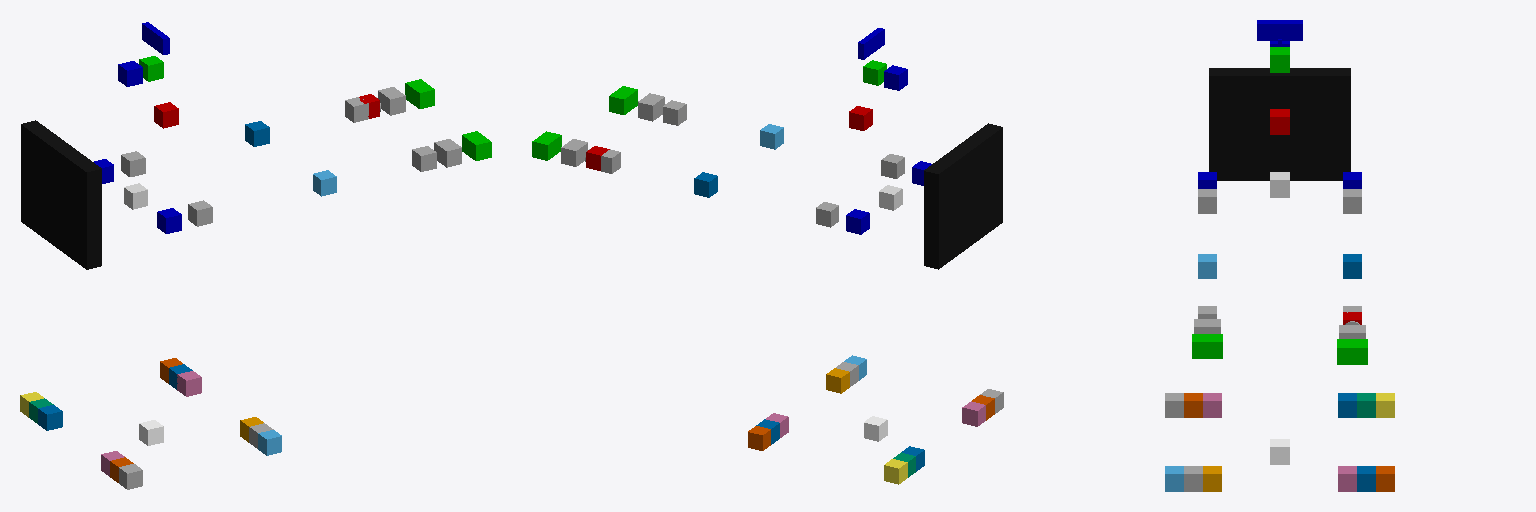
--- Render facts (derived) ---
The picture shows the robot from 3 angles, left to right: view 1: azimuth 30°, elevation 25°; view 2: azimuth 150°, elevation 25°; view 3: azimuth 270°, elevation 25°; orthographic projection.
Model pr2 with 97 links and 96 joints (21 revolute, 19 continuous, 3 prismatic, 53 fixed), rooted at base_footprint, posed every joint at zero.
Visible links, largest first — view 1: base_bellow_link, double_stereo_link, head_pan_link, base_link, r_wrist_flex_link, l_forearm_roll_link, laser_tilt_mount_link, r_shoulder_pan_link, l_shoulder_lift_link, bl_caster_r_wheel_link, r_shoulder_lift_link, fl_caster_r_wheel_link (+3 smaller); view 2: base_bellow_link, double_stereo_link; view 3: base_bellow_link, double_stereo_link.
Link boxes in pixels (left/top/right/bottom): base_bellow_link: left=21, top=120, right=101, bottom=269; double_stereo_link: left=142, top=22, right=169, bottom=54; head_pan_link: left=118, top=61, right=142, bottom=86; base_link: left=139, top=420, right=163, bottom=445; r_wrist_flex_link: left=412, top=146, right=436, bottom=171; l_forearm_roll_link: left=245, top=121, right=269, bottom=146; laser_tilt_mount_link: left=154, top=102, right=178, bottom=128; r_shoulder_pan_link: left=157, top=208, right=181, bottom=233; l_shoulder_lift_link: left=121, top=151, right=145, bottom=176; bl_caster_r_wheel_link: left=38, top=405, right=62, bottom=430; r_shoulder_lift_link: left=188, top=200, right=212, bottom=226; fl_caster_r_wheel_link: left=177, top=371, right=201, bottom=396; base_bellow_link: left=924, top=123, right=1002, bottom=269; double_stereo_link: left=858, top=28, right=884, bottom=59; base_bellow_link: left=1209, top=68, right=1350, bottom=180; double_stereo_link: left=1257, top=20, right=1302, bottom=40.
Size in the robot's own frame: 1.31 by 0.5972 by 1.26 metres.
Geometry: primitives only (box / cylinder / sphere), no mesh files.

The robot description file, URDF, robot "pr2":
<?xml version="1.0" ?>
<!-- =================================================================================== -->
<!-- |    This document was autogenerated by xacro from [local-path]/work/development/giskard_ws/src/iai_pr2/iai_pr2_description/robots/pr2_calibrated_with_ft2_without_virtual_joints.urdf | -->
<!-- |    EDITING THIS FILE BY HAND IS NOT RECOMMENDED                                 | -->
<!-- =================================================================================== -->
<robot name="pr2" xmlns:controller="http://playerstage.sourceforge.net/gazebo/xmlschema/#controller" xmlns:interface="http://playerstage.sourceforge.net/gazebo/xmlschema/#interface" xmlns:joint="http://playerstage.sourceforge.net/gazebo/xmlschema/#slider" xmlns:sensor="http://playerstage.sourceforge.net/gazebo/xmlschema/#sensor">
  <gazebo>
    <plugin filename="libgazebo_ros_controller_manager.so" name="gazebo_ros_controller_manager">
      <alwaysOn>true</alwaysOn>
      <updateRate>1000.0</updateRate>
    </plugin>
    <plugin filename="libgazebo_ros_power_monitor.so" name="gazebo_ros_power_monitor_controller">
      <alwaysOn>true</alwaysOn>
      <updateRate>1.0</updateRate>
      <timeout>5</timeout>
      <powerStateTopic>power_state</powerStateTopic>
      <powerStateRate>10.0</powerStateRate>
      <fullChargeCapacity>87.78</fullChargeCapacity>
      <dischargeRate>-474</dischargeRate>
      <chargeRate>525</chargeRate>
      <dischargeVoltage>15.52</dischargeVoltage>
      <chargeVoltage>16.41</chargeVoltage>
    </plugin>
  </gazebo>
  <material name="Blue">
    <color rgba="0 0 0.8 1"/>
  </material>
  <material name="Green">
    <color rgba="0 0.8 0 1"/>
  </material>
  <material name="Grey">
    <color rgba="0.7 0.7 0.7 1"/>
  </material>
  <material name="Grey2">
    <color rgba="0.9 0.9 0.9 1"/>
  </material>
  <material name="Red">
    <color rgba="0.8 0 0 1"/>
  </material>
  <material name="White">
    <color rgba="1 1 1 1"/>
  </material>
  <material name="Black">
    <color rgba="0.1 0.1 0.1 1"/>
  </material>
  <material name="LightGrey">
    <color rgba="0.6 0.6 0.6 1"/>
  </material>
  <link name="base_link">
    <inertial>
      <mass value="116"/>
      <origin xyz="-0.061 0 0.1465"/>
      <inertia ixx="5.652232699207" ixy="-0.009719934438" ixz="1.293988226423" iyy="5.669473158652" iyz="-0.007379583694" izz="3.683196351726"/>
    </inertial>
    <visual>
      <origin rpy="0 0 0" xyz="0 0 0"/>
      <geometry>
        <box size="0.05 0.05 0.05"/>
      </geometry>
      <material name="White"/>
    </visual>
    <collision>
      <origin rpy="0 0 0" xyz="0 0 0"/>
      <geometry>
        <box size="0.05 0.05 0.05"/>
      </geometry>
    </collision>
  </link>
  <joint name="l_gripper_r_finger_joint" type="revolute">
    <parent link="l_gripper_palm_link"/>
    <child link="l_gripper_r_finger_link"/>
    <origin rpy="0 0 0" xyz="0.07691 -0.01 0"/>
    <axis xyz="0 0 -1"/>
    <limit effort="1000" lower="0" upper="0.548" velocity="0.5"/>
    <mimic joint="l_gripper_l_finger_joint" multiplier="1" offset="0"/>
    <dynamics damping="0.02"/>
  </joint>
  <link name="base_footprint">
  </link>
  <joint name="base_footprint_joint" type="fixed">
    <parent link="base_footprint"/>
    <child link="base_link"/>
    <origin rpy="0 0 0" xyz="0 0 0.051"/>
  </joint>
  <link name="base_bellow_link">
    <inertial>
      <mass value="1"/>
      <origin xyz="0 0 0"/>
      <inertia ixx="0.01" ixy="0" ixz="0" iyy="0.01" iyz="0" izz="0.01"/>
    </inertial>
    <visual>
      <origin rpy="0 0 0" xyz="0 0 0"/>
      <geometry>
        <box size="0.05 0.37 0.3"/>
      </geometry>
      <material name="Black"/>
    </visual>
    <collision>
      <origin rpy="0 0 0" xyz="0 0 0"/>
      <geometry>
        <box size="0.05 0.37 0.3"/>
      </geometry>
    </collision>
  </link>
  <joint name="base_bellow_joint" type="fixed">
    <parent link="base_link"/>
    <child link="base_bellow_link"/>
    <origin rpy="0 0 0" xyz="-0.29 0 0.8"/>
  </joint>
  <joint name="base_laser_joint" type="fixed">
    <parent link="base_link"/>
    <child link="base_laser_link"/>
    <origin rpy="0 0 0" xyz="0.275 0 0.252"/>
    <axis xyz="0 1 0"/>
  </joint>
  <link name="base_laser_link" type="laser">
    <inertial>
      <mass value="0.001"/>
      <origin rpy="0 0 0" xyz="0 0 0"/>
      <inertia ixx="0.0001" ixy="0" ixz="0" iyy="0.000001" iyz="0" izz="0.0001"/>
    </inertial>
  </link>
  <gazebo reference="base_laser_link">
    <sensor name="base_laser" type="ray">
      <always_on>true</always_on>
      <update_rate>20</update_rate>
      <pose>0 0 0 0 0 0</pose>
      <visualize>false</visualize>
      <ray>
        <scan>
          <horizontal>
            <samples>640</samples>
            <resolution>1</resolution>
            <min_angle>-2.2689</min_angle>
            <max_angle>2.2689</max_angle>
          </horizontal>
        </scan>
        <range>
          <min>0.08</min>
          <max>10.0</max>
          <resolution>0.01</resolution>
        </range>
      </ray>
      <plugin filename="libgazebo_ros_laser.so" name="gazebo_ros_base_laser_controller">
        <gaussianNoise>0.005</gaussianNoise>
        <alwaysOn>true</alwaysOn>
        <updateRate>20</updateRate>
        <topicName>base_scan</topicName>
        <frameName>base_laser_link</frameName>
      </plugin>
    </sensor>
  </gazebo>
  <joint name="fl_caster_rotation_joint" type="continuous">
    <parent link="base_link"/>
    <child link="fl_caster_rotation_link"/>
    <origin rpy="0 0 0" xyz="0.2246 0.2246 0.0282"/>
    <axis xyz="0 0 1"/>
    <limit effort="6.5" velocity="10"/>
    <dynamics damping="1.0" friction="0.0"/>
    <safety_controller k_velocity="10"/>
    <calibration rising="-0.785398163397"/>
  </joint>
  <link name="fl_caster_rotation_link">
    <inertial>
      <mass value="3.473082"/>
      <origin xyz="0 0 0.07"/>
      <inertia ixx="0.012411765597" ixy="-0.000711733678" ixz="0.00050272983" iyy="0.015218160428" iyz="-0.000004273467" izz="0.011763977943"/>
    </inertial>
    <visual>
      <origin rpy="0 0 0" xyz="0 0 0"/>
      <geometry>
        <box size="0.05 0.05 0.05"/>
      </geometry>
      <material name="Caster"/>
    </visual>
    <collision>
      <origin rpy="0 0 0" xyz="0 0 0"/>
      <geometry>
        <box size="0.05 0.05 0.05"/>
      </geometry>
    </collision>
  </link>
  <transmission name="fl_caster_rotation_trans" type="pr2_mechanism_model/SimpleTransmission">
    <actuator name="fl_caster_rotation_motor"/>
    <joint name="fl_caster_rotation_joint"/>
    <mechanicalReduction>-79.2380952381</mechanicalReduction>
  </transmission>
  <joint name="fl_caster_l_wheel_joint" type="continuous">
    <parent link="fl_caster_rotation_link"/>
    <child link="fl_caster_l_wheel_link"/>
    <origin rpy="0 0 0" xyz="0 0.049 0"/>
    <axis xyz="0 1 0"/>
    <limit effort="7" velocity="15"/>
    <dynamics damping="1.0" friction="0.0"/>
    <safety_controller k_velocity="10"/>
  </joint>
  <link name="fl_caster_l_wheel_link">
    <inertial>
      <mass value="0.44036"/>
      <origin xyz="0 0 0"/>
      <inertia ixx="0.012411765597" ixy="-0.000711733678" ixz="0.00050272983" iyy="0.015218160428" iyz="-0.000004273467" izz="0.011763977943"/>
    </inertial>
    <visual>
      <origin rpy="0 0 0" xyz="0 0 0"/>
      <geometry>
        <box size="0.05 0.05 0.05"/>
      </geometry>
      <material name="Wheel_l"/>
    </visual>
    <collision>
      <origin rpy="1.57079632679 0 0" xyz="0 0 0"/>
      <geometry>
        <cylinder length="0.034" radius="0.074792"/>
      </geometry>
    </collision>
  </link>
  <gazebo reference="fl_caster_l_wheel_link">
    <mu1 value="100.0"/>
    <mu2 value="100.0"/>
    <kp value="1000000.0"/>
    <kd value="1.0"/>
    <maxVel value="100.0"/>
    <minDepth value="0.0"/>
  </gazebo>
  <transmission name="fl_caster_l_wheel_trans" type="pr2_mechanism_model/SimpleTransmission">
    <actuator name="fl_caster_l_wheel_motor"/>
    <joint name="fl_caster_l_wheel_joint"/>
    <mechanicalReduction>79.2380952381</mechanicalReduction>
  </transmission>
  <joint name="fl_caster_r_wheel_joint" type="continuous">
    <parent link="fl_caster_rotation_link"/>
    <child link="fl_caster_r_wheel_link"/>
    <origin rpy="0 0 0" xyz="0 -0.049 0"/>
    <axis xyz="0 1 0"/>
    <limit effort="7" velocity="15"/>
    <dynamics damping="1.0" friction="0.0"/>
    <safety_controller k_velocity="10"/>
  </joint>
  <link name="fl_caster_r_wheel_link">
    <inertial>
      <mass value="0.44036"/>
      <origin xyz="0 0 0"/>
      <inertia ixx="0.012411765597" ixy="-0.000711733678" ixz="0.00050272983" iyy="0.015218160428" iyz="-0.000004273467" izz="0.011763977943"/>
    </inertial>
    <visual>
      <origin rpy="0 0 0" xyz="0 0 0"/>
      <geometry>
        <box size="0.05 0.05 0.05"/>
      </geometry>
      <material name="Wheel_r"/>
    </visual>
    <collision>
      <origin rpy="1.57079632679 0 0" xyz="0 0 0"/>
      <geometry>
        <cylinder length="0.034" radius="0.074792"/>
      </geometry>
    </collision>
  </link>
  <gazebo reference="fl_caster_r_wheel_link">
    <mu1 value="100.0"/>
    <mu2 value="100.0"/>
    <kp value="1000000.0"/>
    <kd value="1.0"/>
    <maxVel value="100.0"/>
    <minDepth value="0.0"/>
  </gazebo>
  <transmission name="fl_caster_r_wheel_trans" type="pr2_mechanism_model/SimpleTransmission">
    <actuator name="fl_caster_r_wheel_motor"/>
    <joint name="fl_caster_r_wheel_joint"/>
    <mechanicalReduction>-79.2380952381</mechanicalReduction>
  </transmission>
  <gazebo reference="fl_caster_rotation_link">
    <material value="PR2/caster_texture"/>
  </gazebo>
  <joint name="fr_caster_rotation_joint" type="continuous">
    <parent link="base_link"/>
    <child link="fr_caster_rotation_link"/>
    <origin rpy="0 0 0" xyz="0.2246 -0.2246 0.0282"/>
    <axis xyz="0 0 1"/>
    <limit effort="6.5" velocity="10"/>
    <dynamics damping="1.0" friction="0.0"/>
    <safety_controller k_velocity="10"/>
    <calibration rising="-0.785398163397"/>
  </joint>
  <link name="fr_caster_rotation_link">
    <inertial>
      <mass value="3.473082"/>
      <origin xyz="0 0 0.07"/>
      <inertia ixx="0.012411765597" ixy="-0.000711733678" ixz="0.00050272983" iyy="0.015218160428" iyz="-0.000004273467" izz="0.011763977943"/>
    </inertial>
    <visual>
      <origin rpy="0 0 0" xyz="0 0 0"/>
      <geometry>
        <box size="0.05 0.05 0.05"/>
      </geometry>
      <material name="Caster"/>
    </visual>
    <collision>
      <origin rpy="0 0 0" xyz="0 0 0"/>
      <geometry>
        <box size="0.05 0.05 0.05"/>
      </geometry>
    </collision>
  </link>
  <transmission name="fr_caster_rotation_trans" type="pr2_mechanism_model/SimpleTransmission">
    <actuator name="fr_caster_rotation_motor"/>
    <joint name="fr_caster_rotation_joint"/>
    <mechanicalReduction>-79.2380952381</mechanicalReduction>
  </transmission>
  <joint name="fr_caster_l_wheel_joint" type="continuous">
    <parent link="fr_caster_rotation_link"/>
    <child link="fr_caster_l_wheel_link"/>
    <origin rpy="0 0 0" xyz="0 0.049 0"/>
    <axis xyz="0 1 0"/>
    <limit effort="7" velocity="15"/>
    <dynamics damping="1.0" friction="0.0"/>
    <safety_controller k_velocity="10"/>
  </joint>
  <link name="fr_caster_l_wheel_link">
    <inertial>
      <mass value="0.44036"/>
      <origin xyz="0 0 0"/>
      <inertia ixx="0.012411765597" ixy="-0.000711733678" ixz="0.00050272983" iyy="0.015218160428" iyz="-0.000004273467" izz="0.011763977943"/>
    </inertial>
    <visual>
      <origin rpy="0 0 0" xyz="0 0 0"/>
      <geometry>
        <box size="0.05 0.05 0.05"/>
      </geometry>
      <material name="Wheel_l"/>
    </visual>
    <collision>
      <origin rpy="1.57079632679 0 0" xyz="0 0 0"/>
      <geometry>
        <cylinder length="0.034" radius="0.074792"/>
      </geometry>
    </collision>
  </link>
  <gazebo reference="fr_caster_l_wheel_link">
    <mu1 value="100.0"/>
    <mu2 value="100.0"/>
    <kp value="1000000.0"/>
    <kd value="1.0"/>
    <maxVel value="100.0"/>
    <minDepth value="0.0"/>
  </gazebo>
  <transmission name="fr_caster_l_wheel_trans" type="pr2_mechanism_model/SimpleTransmission">
    <actuator name="fr_caster_l_wheel_motor"/>
    <joint name="fr_caster_l_wheel_joint"/>
    <mechanicalReduction>79.2380952381</mechanicalReduction>
  </transmission>
  <joint name="fr_caster_r_wheel_joint" type="continuous">
    <parent link="fr_caster_rotation_link"/>
    <child link="fr_caster_r_wheel_link"/>
    <origin rpy="0 0 0" xyz="0 -0.049 0"/>
    <axis xyz="0 1 0"/>
    <limit effort="7" velocity="15"/>
    <dynamics damping="1.0" friction="0.0"/>
    <safety_controller k_velocity="10"/>
  </joint>
  <link name="fr_caster_r_wheel_link">
    <inertial>
      <mass value="0.44036"/>
      <origin xyz="0 0 0"/>
      <inertia ixx="0.012411765597" ixy="-0.000711733678" ixz="0.00050272983" iyy="0.015218160428" iyz="-0.000004273467" izz="0.011763977943"/>
    </inertial>
    <visual>
      <origin rpy="0 0 0" xyz="0 0 0"/>
      <geometry>
        <box size="0.05 0.05 0.05"/>
      </geometry>
      <material name="Wheel_r"/>
    </visual>
    <collision>
      <origin rpy="1.57079632679 0 0" xyz="0 0 0"/>
      <geometry>
        <cylinder length="0.034" radius="0.074792"/>
      </geometry>
    </collision>
  </link>
  <gazebo reference="fr_caster_r_wheel_link">
    <mu1 value="100.0"/>
    <mu2 value="100.0"/>
    <kp value="1000000.0"/>
    <kd value="1.0"/>
    <maxVel value="100.0"/>
    <minDepth value="0.0"/>
  </gazebo>
  <transmission name="fr_caster_r_wheel_trans" type="pr2_mechanism_model/SimpleTransmission">
    <actuator name="fr_caster_r_wheel_motor"/>
    <joint name="fr_caster_r_wheel_joint"/>
    <mechanicalReduction>-79.2380952381</mechanicalReduction>
  </transmission>
  <gazebo reference="fr_caster_rotation_link">
    <material value="PR2/caster_texture"/>
  </gazebo>
  <joint name="bl_caster_rotation_joint" type="continuous">
    <parent link="base_link"/>
    <child link="bl_caster_rotation_link"/>
    <origin rpy="0 0 0" xyz="-0.2246 0.2246 0.0282"/>
    <axis xyz="0 0 1"/>
    <limit effort="6.5" velocity="10"/>
    <dynamics damping="1.0" friction="0.0"/>
    <safety_controller k_velocity="10"/>
    <calibration rising="2.35619449019"/>
  </joint>
  <link name="bl_caster_rotation_link">
    <inertial>
      <mass value="3.473082"/>
      <origin xyz="0 0 0.07"/>
      <inertia ixx="0.012411765597" ixy="-0.000711733678" ixz="0.00050272983" iyy="0.015218160428" iyz="-0.000004273467" izz="0.011763977943"/>
    </inertial>
    <visual>
      <origin rpy="0 0 0" xyz="0 0 0"/>
      <geometry>
        <box size="0.05 0.05 0.05"/>
      </geometry>
      <material name="Caster"/>
    </visual>
    <collision>
      <origin rpy="0 0 0" xyz="0 0 0"/>
      <geometry>
        <box size="0.05 0.05 0.05"/>
      </geometry>
    </collision>
  </link>
  <transmission name="bl_caster_rotation_trans" type="pr2_mechanism_model/SimpleTransmission">
    <actuator name="bl_caster_rotation_motor"/>
    <joint name="bl_caster_rotation_joint"/>
    <mechanicalReduction>-79.2380952381</mechanicalReduction>
  </transmission>
  <joint name="bl_caster_l_wheel_joint" type="continuous">
    <parent link="bl_caster_rotation_link"/>
    <child link="bl_caster_l_wheel_link"/>
    <origin rpy="0 0 0" xyz="0 0.049 0"/>
    <axis xyz="0 1 0"/>
    <limit effort="7" velocity="15"/>
    <dynamics damping="1.0" friction="0.0"/>
    <safety_controller k_velocity="10"/>
  </joint>
  <link name="bl_caster_l_wheel_link">
    <inertial>
      <mass value="0.44036"/>
      <origin xyz="0 0 0"/>
      <inertia ixx="0.012411765597" ixy="-0.000711733678" ixz="0.00050272983" iyy="0.015218160428" iyz="-0.000004273467" izz="0.011763977943"/>
    </inertial>
    <visual>
      <origin rpy="0 0 0" xyz="0 0 0"/>
      <geometry>
        <box size="0.05 0.05 0.05"/>
      </geometry>
      <material name="Wheel_l"/>
    </visual>
    <collision>
      <origin rpy="1.57079632679 0 0" xyz="0 0 0"/>
      <geometry>
        <cylinder length="0.034" radius="0.074792"/>
      </geometry>
    </collision>
  </link>
  <gazebo reference="bl_caster_l_wheel_link">
    <mu1 value="100.0"/>
    <mu2 value="100.0"/>
    <kp value="1000000.0"/>
    <kd value="1.0"/>
    <maxVel value="100.0"/>
    <minDepth value="0.0"/>
  </gazebo>
  <transmission name="bl_caster_l_wheel_trans" type="pr2_mechanism_model/SimpleTransmission">
    <actuator name="bl_caster_l_wheel_motor"/>
    <joint name="bl_caster_l_wheel_joint"/>
    <mechanicalReduction>79.2380952381</mechanicalReduction>
  </transmission>
  <joint name="bl_caster_r_wheel_joint" type="continuous">
    <parent link="bl_caster_rotation_link"/>
    <child link="bl_caster_r_wheel_link"/>
    <origin rpy="0 0 0" xyz="0 -0.049 0"/>
    <axis xyz="0 1 0"/>
    <limit effort="7" velocity="15"/>
    <dynamics damping="1.0" friction="0.0"/>
    <safety_controller k_velocity="10"/>
  </joint>
  <link name="bl_caster_r_wheel_link">
    <inertial>
      <mass value="0.44036"/>
      <origin xyz="0 0 0"/>
      <inertia ixx="0.012411765597" ixy="-0.000711733678" ixz="0.00050272983" iyy="0.015218160428" iyz="-0.000004273467" izz="0.011763977943"/>
    </inertial>
    <visual>
      <origin rpy="0 0 0" xyz="0 0 0"/>
      <geometry>
        <box size="0.05 0.05 0.05"/>
      </geometry>
      <material name="Wheel_r"/>
    </visual>
    <collision>
      <origin rpy="1.57079632679 0 0" xyz="0 0 0"/>
      <geometry>
        <cylinder length="0.034" radius="0.074792"/>
      </geometry>
    </collision>
  </link>
  <gazebo reference="bl_caster_r_wheel_link">
    <mu1 value="100.0"/>
    <mu2 value="100.0"/>
    <kp value="1000000.0"/>
    <kd value="1.0"/>
    <maxVel value="100.0"/>
    <minDepth value="0.0"/>
  </gazebo>
  <transmission name="bl_caster_r_wheel_trans" type="pr2_mechanism_model/SimpleTransmission">
    <actuator name="bl_caster_r_wheel_motor"/>
    <joint name="bl_caster_r_wheel_joint"/>
    <mechanicalReduction>-79.2380952381</mechanicalReduction>
  </transmission>
  <gazebo reference="bl_caster_rotation_link">
    <material value="PR2/caster_texture"/>
  </gazebo>
  <joint name="br_caster_rotation_joint" type="continuous">
    <parent link="base_link"/>
    <child link="br_caster_rotation_link"/>
    <origin rpy="0 0 0" xyz="-0.2246 -0.2246 0.0282"/>
    <axis xyz="0 0 1"/>
    <limit effort="6.5" velocity="10"/>
    <dynamics damping="1.0" friction="0.0"/>
    <safety_controller k_velocity="10"/>
    <calibration rising="2.35619449019"/>
  </joint>
  <link name="br_caster_rotation_link">
    <inertial>
      <mass value="3.473082"/>
      <origin xyz="0 0 0.07"/>
      <inertia ixx="0.012411765597" ixy="-0.000711733678" ixz="0.00050272983" iyy="0.015218160428" iyz="-0.000004273467" izz="0.011763977943"/>
    </inertial>
    <visual>
      <origin rpy="0 0 0" xyz="0 0 0"/>
      <geometry>
        <box size="0.05 0.05 0.05"/>
      </geometry>
      <material name="Caster"/>
    </visual>
    <collision>
      <origin rpy="0 0 0" xyz="0 0 0"/>
      <geometry>
        <box size="0.05 0.05 0.05"/>
      </geometry>
    </collision>
  </link>
  <transmission name="br_caster_rotation_trans" type="pr2_mechanism_model/SimpleTransmission">
    <actuator name="br_caster_rotation_motor"/>
    <joint name="br_caster_rotation_joint"/>
    <mechanicalReduction>-79.2380952381</mechanicalReduction>
  </transmission>
  <joint name="br_caster_l_wheel_joint" type="continuous">
    <parent link="br_caster_rotation_link"/>
    <child link="br_caster_l_wheel_link"/>
    <origin rpy="0 0 0" xyz="0 0.049 0"/>
    <axis xyz="0 1 0"/>
    <limit effort="7" velocity="15"/>
    <dynamics damping="1.0" friction="0.0"/>
    <safety_controller k_velocity="10"/>
  </joint>
  <link name="br_caster_l_wheel_link">
    <inertial>
      <mass value="0.44036"/>
      <origin xyz="0 0 0"/>
      <inertia ixx="0.012411765597" ixy="-0.000711733678" ixz="0.00050272983" iyy="0.015218160428" iyz="-0.000004273467" izz="0.011763977943"/>
    </inertial>
    <visual>
      <origin rpy="0 0 0" xyz="0 0 0"/>
      <geometry>
        <box size="0.05 0.05 0.05"/>
      </geometry>
      <material name="Wheel_l"/>
    </visual>
    <collision>
      <origin rpy="1.57079632679 0 0" xyz="0 0 0"/>
      <geometry>
        <cylinder length="0.034" radius="0.074792"/>
      </geometry>
    </collision>
  </link>
  <gazebo reference="br_caster_l_wheel_link">
    <mu1 value="100.0"/>
    <mu2 value="100.0"/>
    <kp value="1000000.0"/>
    <kd value="1.0"/>
    <maxVel value="100.0"/>
    <minDepth value="0.0"/>
  </gazebo>
  <transmission name="br_caster_l_wheel_trans" type="pr2_mechanism_model/SimpleTransmission">
    <actuator name="br_caster_l_wheel_motor"/>
    <joint name="br_caster_l_wheel_joint"/>
    <mechanicalReduction>79.2380952381</mechanicalReduction>
  </transmission>
  <joint name="br_caster_r_wheel_joint" type="continuous">
    <parent link="br_caster_rotation_link"/>
    <child link="br_caster_r_wheel_link"/>
    <origin rpy="0 0 0" xyz="0 -0.049 0"/>
    <axis xyz="0 1 0"/>
    <limit effort="7" velocity="15"/>
    <dynamics damping="1.0" friction="0.0"/>
    <safety_controller k_velocity="10"/>
  </joint>
  <link name="br_caster_r_wheel_link">
    <inertial>
      <mass value="0.44036"/>
      <origin xyz="0 0 0"/>
      <inertia ixx="0.012411765597" ixy="-0.000711733678" ixz="0.00050272983" iyy="0.015218160428" iyz="-0.000004273467" izz="0.011763977943"/>
    </inertial>
    <visual>
      <origin rpy="0 0 0" xyz="0 0 0"/>
      <geometry>
        <box size="0.05 0.05 0.05"/>
      </geometry>
      <material name="Wheel_r"/>
    </visual>
    <collision>
      <origin rpy="1.57079632679 0 0" xyz="0 0 0"/>
      <geometry>
        <cylinder length="0.034" radius="0.074792"/>
      </geometry>
    </collision>
  </link>
  <gazebo reference="br_caster_r_wheel_link">
    <mu1 value="100.0"/>
    <mu2 value="100.0"/>
    <kp value="1000000.0"/>
    <kd value="1.0"/>
    <maxVel value="100.0"/>
    <minDepth value="0.0"/>
  </gazebo>
  <transmission name="br_caster_r_wheel_trans" type="pr2_mechanism_model/SimpleTransmission">
    <actuator name="br_caster_r_wheel_motor"/>
    <joint name="br_caster_r_wheel_joint"/>
    <mechanicalReduction>-79.2380952381</mechanicalReduction>
  </transmission>
  <gazebo reference="br_caster_rotation_link">
    <material value="PR2/caster_texture"/>
  </gazebo>
  <gazebo reference="base_link">
    <selfCollide>false</selfCollide>
    <sensor name="base_contact_sensor" type="contact">
      <always_on>true</always_on>
      <update_rate>100.0</update_rate>
      <contact>
        <collision>base_link_geom</collision>
      </contact>
      <plugin filename="libgazebo_ros_bumper.so" name="base_gazebo_ros_bumper_controller">
        <alwaysOn>true</alwaysOn>
        <updateRate>100.0</updateRate>
        <bumperTopicName>base_bumper</bumperTopicName>
      </plugin>
    </sensor>
  </gazebo>
  <gazebo reference="base_bellow_link">
    <material value="PR2/Black"/>
  </gazebo>
  <gazebo>
    <plugin filename="libgazebo_ros_p3d.so" name="p3d_base_controller">
      <alwaysOn>true</alwaysOn>
      <updateRate>100.0</updateRate>
      <bodyName>base_link</bodyName>
      <topicName>base_pose_ground_truth</topicName>
      <gaussianNoise>0.01</gaussianNoise>
      <frameName>map</frameName>
      <xyzOffsets>0 0 0</xyzOffsets>
      <rpyOffsets>0 0 0</rpyOffsets>
    </plugin>
    <canonicalBody>base_footprint</canonicalBody>
  </gazebo>
  <joint name="torso_lift_joint" type="prismatic">
    <parent link="base_link"/>
    <child link="torso_lift_link"/>
    <origin rpy="0 0 0" xyz="-0.05 0 0.739675"/>
    <axis xyz="0 0 1"/>
    <limit effort="10000" lower="0" upper="0.33" velocity="0.013"/>
    <dynamics damping="20000.0"/>
    <safety_controller k_position="100" k_velocity="2000000" soft_lower_limit="0.0115" soft_upper_limit="0.325"/>
    <calibration falling="0.00475"/>
  </joint>
  <link name="torso_lift_link">
    <inertial>
      <mass value="36.248046"/>
      <origin xyz="-0.1 0 -0.0885"/>
      <inertia ixx="2.771653750257" ixy="0.004284522609" ixz="-0.160418504506" iyy="2.510019507959" iyz="0.029664468704" izz="0.526432355569"/>
    </inertial>
    <visual>
      <origin rpy="0 0 0" xyz="0 0 0"/>
      <geometry>
        <box size="0.05 0.05 0.05"/>
      </geometry>
      <material name="Grey2"/>
    </visual>
    <collision>
      <origin rpy="0 0 0" xyz="0 0 0"/>
      <geometry>
        <box size="0.05 0.05 0.05"/>
      </geometry>
    </collision>
  </link>
  <joint name="l_torso_lift_side_plate_joint" type="fixed">
    <parent link="torso_lift_link"/>
    <child link="l_torso_lift_side_plate_link"/>
    <origin rpy="0 0 0" xyz="0.0535 0.209285 0.176625"/>
  </joint>
  <link name="l_torso_lift_side_plate_link">
    <inertial>
      <mass value="0.1"/>
      <origin xyz="-0.0625 0 0.05"/>
      <inertia ixx="0.001" ixy="0" ixz="0" iyy="0.001" iyz="0" izz="0.001"/>
    </inertial>
  </link>
  <joint name="r_torso_lift_side_plate_joint" type="fixed">
    <parent link="torso_lift_link"/>
    <child link="r_torso_lift_side_plate_link"/>
    <origin rpy="0 0 0" xyz="0.0535 -0.209285 0.176625"/>
  </joint>
  <link name="r_torso_lift_side_plate_link">
    <inertial>
      <mass value="0.1"/>
      <origin xyz="-0.0625 0 0.05"/>
      <inertia ixx="0.001" ixy="0" ixz="0" iyy="0.001" iyz="0" izz="0.001"/>
    </inertial>
  </link>
  <link name="torso_lift_motor_screw_link">
    <inertial>
      <mass value="1"/>
      <origin rpy="0 0 0" xyz="0 0 0"/>
      <inertia ixx="0.001" ixy="0" ixz="0" iyy="0.001" iyz="0" izz="0.001"/>
    </inertial>
  </link>
  <joint name="torso_lift_motor_screw_joint" type="continuous">
    <parent link="base_link"/>
    <child link="torso_lift_motor_screw_link"/>
    <origin rpy="0 0 0" xyz="-0.15 0 0.7"/>
    <axis xyz="0 0 1"/>
    <dynamics damping="0.0001"/>
  </joint>
  <gazebo reference="torso_lift_link">
    <sensor name="torso_lift_contact_sensor" type="contact">
      <contact>
        <collision>torso_lift_link_geom</collision>
      </contact>
      <update_rate>100.0</update_rate>
      <plugin filename="libgazebo_ros_bumper.so" name="torso_lift_gazebo_ros_bumper_controller">
        <alwaysOn>true</alwaysOn>
        <updateRate>100.0</updateRate>
        <bumperTopicName>torso_lift_bumper</bumperTopicName>
      </plugin>
    </sensor>
  </gazebo>
  <gazebo>
    <joint name="torso_lift_screw_torso_lift_joint" type="screw">
      <parent>torso_lift_link</parent>
      <child>torso_lift_motor_screw_link</child>
      <axis>
        <xyz>0 0 1</xyz>
      </axis>
      <thread_pitch>3141.6</thread_pitch>
    </joint>
  </gazebo>
  <transmission name="torso_lift_trans" type="pr2_mechanism_model/SimpleTransmission">
    <actuator name="torso_lift_motor"/>
    <joint name="torso_lift_joint"/>
    <mechanicalReduction>-47641.529999999999</mechanicalReduction>
    <simulated_actuated_joint name="torso_lift_motor_screw_joint" simulated_reduction="3141.6"/>
  </transmission>
  <joint name="imu_joint" type="fixed">
    <parent link="torso_lift_link"/>
    <child link="imu_link"/>
    <origin rpy="0 3.14159265359 0" xyz="-0.02977 -0.1497 0.164"/>
    <axis xyz="0 1 0"/>
  </joint>
  <link name="imu_link">
    <inertial>
      <mass value="0.001"/>
      <origin rpy="0 0 0" xyz="0 0 0"/>
      <inertia ixx="0.0001" ixy="0" ixz="0" iyy="0.000001" iyz="0" izz="0.0001"/>
    </inertial>
  </link>
  <gazebo>
    <plugin filename="libgazebo_ros_imu.so" name="imu_controller">
      <alwaysOn>true</alwaysOn>
      <updateRate>100.0</updateRate>
      <bodyName>imu_link</bodyName>
      <topicName>torso_lift_imu/data</topicName>
      <gaussianNoise>2.89e-08</gaussianNoise>
      <xyzOffset>0 0 0</xyzOffset>
      <rpyOffset>0 -180.0 0</rpyOffset>
    </plugin>
  </gazebo>
  <joint name="head_pan_joint" type="revolute">
    <parent link="torso_lift_link"/>
    <child link="head_pan_link"/>
    <origin rpy="0 0 0" xyz="-0.01707 0 0.38145"/>
    <axis xyz="0 0 1"/>
    <limit effort="2.645" lower="-3.007" upper="3.007" velocity="6"/>
    <dynamics damping="0.5"/>
    <safety_controller k_position="100" k_velocity="1.5" soft_lower_limit="-2.857" soft_upper_limit="2.857"/>
    <calibration rising="0.016957478933"/>
  </joint>
  <link name="head_pan_link">
    <inertial>
      <mass value="6.339"/>
      <origin rpy="0 0 0" xyz="0.010907 0.031693 0.090507"/>
      <inertia ixx="0.032497592" ixy="0.00063604088" ixz="0.0025851534" iyy="0.046545627" iyz="-0.0024534295" izz="0.057652724"/>
    </inertial>
    <visual>
      <origin rpy="0 0 0" xyz="0 0 0"/>
      <geometry>
        <box size="0.05 0.05 0.05"/>
      </geometry>
      <material name="Blue"/>
    </visual>
    <collision>
      <geometry>
        <box size="0.05 0.05 0.05"/>
      </geometry>
    </collision>
  </link>
  <transmission name="head_pan_trans" type="pr2_mechanism_model/SimpleTransmission">
    <actuator name="head_pan_motor"/>
    <joint name="head_pan_joint"/>
    <mechanicalReduction>6</mechanicalReduction>
  </transmission>
  <joint name="head_tilt_joint" type="revolute">
    <parent link="head_pan_link"/>
    <child link="head_tilt_link"/>
    <origin rpy="0 0 0" xyz="0.068 0 0"/>
    <axis xyz="0 1 0"/>
    <limit effort="18" lower="-0.471238" upper="1.39626" velocity="5"/>
    <dynamics damping="10.0"/>
    <safety_controller k_position="100" k_velocity="3" soft_lower_limit="-0.3712" soft_upper_limit="1.29626"/>
    <calibration falling="0"/>
  </joint>
  <link name="head_tilt_link">
    <inertial>
      <mass value="4.479"/>
      <origin rpy="0 0 0" xyz="0.001716 -0.019556 0.055002"/>
      <inertia ixx="0.024223222" ixy="0.00062063507" ixz="-0.000096909696" iyy="0.054723086" iyz="0.002797024" izz="0.067306377"/>
    </inertial>
    <visual>
      <origin rpy="0 0 0" xyz="0 0 0"/>
      <geometry>
        <box size="0.05 0.05 0.05"/>
      </geometry>
      <material name="Green"/>
    </visual>
    <collision>
      <origin rpy="0 0 0" xyz="0 0 0"/>
      <geometry>
        <box size="0.05 0.05 0.05"/>
      </geometry>
    </collision>
  </link>
  <transmission name="head_tilt_trans" type="pr2_mechanism_model/SimpleTransmission">
    <actuator name="head_tilt_motor"/>
    <joint name="head_tilt_joint"/>
    <mechanicalReduction>5.859375</mechanicalReduction>
  </transmission>
  <joint name="head_plate_frame_joint" type="fixed">
    <parent link="head_tilt_link"/>
    <child link="head_plate_frame"/>
    <origin rpy="0 0 0" xyz="0.0232 0 0.0645"/>
  </joint>
  <link name="head_plate_frame"/>
  <gazebo reference="head_plate_frame">
    <material value="Gazebo/Grey"/>
  </gazebo>
  <joint name="sensor_mount_frame_joint" type="fixed">
    <parent link="head_plate_frame"/>
    <child link="sensor_mount_link"/>
    <origin rpy="0 0 0" xyz="0 0 0"/>
  </joint>
  <link name="sensor_mount_link">
    <inertial>
      <mass value="0.05"/>
      <origin rpy="0 0 0" xyz="0 0 0"/>
      <inertia ixx="0.001" ixy="0" ixz="0" iyy="0.001" iyz="0" izz="0.01"/>
    </inertial>
    <visual>
      <origin rpy="0 0 0" xyz="0 0 0"/>
      <geometry>
        <box size="0.01 0.01 0.01"/>
      </geometry>
      <material name="Blue"/>
    </visual>
  </link>
  <joint name="high_def_frame_joint" type="fixed">
    <parent link="sensor_mount_link"/>
    <child link="high_def_frame"/>
    <origin rpy="-0.010992974243 -0.007224184883 0.00316695458" xyz="0.044490865137 -0.110991674247 0.05733962096"/>
  </joint>
  <link name="high_def_frame">
    <inertial>
      <mass value="0.01"/>
      <origin rpy="0 0 0" xyz="0 0 0"/>
      <inertia ixx="0.001" ixy="0" ixz="0" iyy="0.001" iyz="0" izz="0.001"/>
    </inertial>
  </link>
  <joint name="high_def_optical_frame_joint" type="fixed">
    <parent link="high_def_frame"/>
    <child link="high_def_optical_frame"/>
    <origin rpy="-1.57079632679 0 -1.57079632679" xyz="0 0 0"/>
  </joint>
  <link name="high_def_optical_frame">
    <inertial>
      <mass value="0.01"/>
      <origin rpy="0 0 0" xyz="0 0 0"/>
      <inertia ixx="0.001" ixy="0" ixz="0" iyy="0.001" iyz="0" izz="0.001"/>
    </inertial>
  </link>
  <gazebo reference="high_def_frame">
    <sensor name="high_def_sensor" type="depth">
      <always_on>true</always_on>
      <update_rate>20.0</update_rate>
      <camera>
        <horizontal_fov>0.785398163397</horizontal_fov>
        <image>
          <format>R8G8B8</format>
          <width>2448</width>
          <height>2050</height>
        </image>
        <clip>
          <near>0.1</near>
          <far>100</far>
        </clip>
      </camera>
      <plugin filename="libgazebo_ros_prosilica.so" name="high_def_controller">
        <updateRate>20.0</updateRate>
        <cameraName>prosilica</cameraName>
        <imageTopicName>image_raw</imageTopicName>
        <cameraInfoTopicName>camera_info</cameraInfoTopicName>
        <pollServiceName>request_image</pollServiceName>
        <frameName>high_def_optical_frame</frameName>
        <CxPrime>1224.5</CxPrime>
        <Cx>1224.5</Cx>
        <Cy>1025.5</Cy>
        <focalLength>2955</focalLength>
        <distortionK1>0.0</distortionK1>
        <distortionK2>0.0</distortionK2>
        <distortionK3>0.0</distortionK3>
        <distortionT1>0.0</distortionT1>
        <distortionT2>0.0</distortionT2>
      </plugin>
    </sensor>
    <material value="Gazebo/Black"/>
  </gazebo>
  <joint name="double_stereo_frame_joint" type="fixed">
    <parent link="sensor_mount_link"/>
    <child link="double_stereo_link"/>
    <origin rpy="0 0 0" xyz="0 0 0"/>
  </joint>
  <link name="double_stereo_link">
    <inertial>
      <mass value="0.1"/>
      <origin rpy="0 0 0" xyz="0 0 0"/>
      <inertia ixx="0.001" ixy="0" ixz="0" iyy="0.001" iyz="0" izz="0.01"/>
    </inertial>
    <visual>
      <origin rpy="0 0 0" xyz="-0.01 0 0.025"/>
      <geometry>
        <box size="0.02 0.12 0.05"/>
      </geometry>
      <material name="Blue"/>
    </visual>
  </link>
  <joint name="wide_stereo_frame_joint" type="fixed">
    <parent link="double_stereo_link"/>
    <child link="wide_stereo_link"/>
    <origin rpy="-0.005116533592 -0.016123200172 0.023786539594" xyz="0.04654507629 0.028051589334 0.052332857617"/>
  </joint>
  <link name="wide_stereo_link">
    <inertial>
      <mass value="0.1"/>
      <origin rpy="0 0 0" xyz="0 0 0"/>
      <inertia ixx="0.01" ixy="0" ixz="0" iyy="0.01" iyz="0" izz="0.01"/>
    </inertial>
  </link>
  <joint name="wide_stereo_optical_frame_joint" type="fixed">
    <parent link="wide_stereo_link"/>
    <child link="wide_stereo_optical_frame"/>
    <origin rpy="-1.57079632679 0 -1.57079632679" xyz="0 0 0"/>
  </joint>
  <link name="wide_stereo_optical_frame" type="camera"/>
  <joint name="wide_stereo_l_stereo_camera_frame_joint" type="fixed">
    <parent link="wide_stereo_link"/>
    <child link="wide_stereo_l_stereo_camera_frame"/>
    <origin rpy="0 0 0" xyz="0 0 0"/>
  </joint>
  <link name="wide_stereo_l_stereo_camera_frame">
    <inertial>
      <mass value="0.01"/>
      <origin xyz="0 0 0"/>
      <inertia ixx="0.001" ixy="0" ixz="0" iyy="0.001" iyz="0" izz="0.001"/>
    </inertial>
  </link>
  <joint name="wide_stereo_l_stereo_camera_optical_frame_joint" type="fixed">
    <parent link="wide_stereo_l_stereo_camera_frame"/>
    <child link="wide_stereo_l_stereo_camera_optical_frame"/>
    <origin rpy="-1.57079632679 0 -1.57079632679" xyz="0 0 0"/>
  </joint>
  <link name="wide_stereo_l_stereo_camera_optical_frame"/>
  <gazebo reference="wide_stereo_l_stereo_camera_frame">
    <sensor name="wide_stereo_l_stereo_camera_sensor" type="depth">
      <always_on>true</always_on>
      <update_rate>25.0</update_rate>
      <camera>
        <horizontal_fov>1.57079632679</horizontal_fov>
        <image>
          <format>BAYER_BGGR8</format>
          <width>640</width>
          <height>480</height>
        </image>
        <clip>
          <near>0.1</near>
          <far>100</far>
        </clip>
      </camera>
      <plugin filename="libgazebo_ros_depth_camera.so" name="wide_stereo_l_stereo_camera_controller">
        <alwaysOn>true</alwaysOn>
        <updateRate>25.0</updateRate>
        <cameraName>wide_stereo/left</cameraName>
        <imageTopicName>image_raw</imageTopicName>
        <cameraInfoTopicName>camera_info</cameraInfoTopicName>
        <frameName>wide_stereo_optical_frame</frameName>
        <hackBaseline>0</hackBaseline>
        <CxPrime>320.5</CxPrime>
        <Cx>320.5</Cx>
        <Cy>240.5</Cy>
        <!-- image_width / (2*tan(hfov_radian /2)) -->
        <!-- 320 for wide and 772.55 for narrow stereo camera -->
        <focalLength>320</focalLength>
        <distortionK1>0.0</distortionK1>
        <distortionK2>0.0</distortionK2>
        <distortionK3>0.0</distortionK3>
        <distortionT1>0.0</distortionT1>
        <distortionT2>0.0</distortionT2>
      </plugin>
    </sensor>
    <turnGravityOff>true</turnGravityOff>
    <material>PR2/Blue</material>
  </gazebo>
  <joint name="wide_stereo_r_stereo_camera_frame_joint" type="fixed">
    <parent link="wide_stereo_l_stereo_camera_frame"/>
    <child link="wide_stereo_r_stereo_camera_frame"/>
    <origin rpy="0 0 0" xyz="0 -0.09 0"/>
  </joint>
  <link name="wide_stereo_r_stereo_camera_frame">
    <inertial>
      <mass value="0.01"/>
      <origin xyz="0 0 0"/>
      <inertia ixx="0.001" ixy="0" ixz="0" iyy="0.001" iyz="0" izz="0.001"/>
    </inertial>
  </link>
  <joint name="wide_stereo_r_stereo_camera_optical_frame_joint" type="fixed">
    <parent link="wide_stereo_r_stereo_camera_frame"/>
    <child link="wide_stereo_r_stereo_camera_optical_frame"/>
    <origin rpy="-1.57079632679 0 -1.57079632679" xyz="0 0 0"/>
  </joint>
  <link name="wide_stereo_r_stereo_camera_optical_frame"/>
  <gazebo reference="wide_stereo_r_stereo_camera_frame">
    <sensor name="wide_stereo_r_stereo_camera_sensor" type="depth">
      <always_on>true</always_on>
      <update_rate>25.0</update_rate>
      <camera>
        <horizontal_fov>1.57079632679</horizontal_fov>
        <image>
          <format>BAYER_BGGR8</format>
          <width>640</width>
          <height>480</height>
        </image>
        <clip>
          <near>0.1</near>
          <far>100</far>
        </clip>
      </camera>
      <plugin filename="libgazebo_ros_depth_camera.so" name="wide_stereo_r_stereo_camera_controller">
        <alwaysOn>true</alwaysOn>
        <updateRate>25.0</updateRate>
        <cameraName>wide_stereo/right</cameraName>
        <imageTopicName>image_raw</imageTopicName>
        <cameraInfoTopicName>camera_info</cameraInfoTopicName>
        <frameName>wide_stereo_optical_frame</frameName>
        <hackBaseline>0.09</hackBaseline>
        <CxPrime>320.5</CxPrime>
        <Cx>320.5</Cx>
        <Cy>240.5</Cy>
        <!-- image_width / (2*tan(hfov_radian /2)) -->
        <!-- 320 for wide and 772.55 for narrow stereo camera -->
        <focalLength>320</focalLength>
        <distortionK1>0.0</distortionK1>
        <distortionK2>0.0</distortionK2>
        <distortionK3>0.0</distortionK3>
        <distortionT1>0.0</distortionT1>
        <distortionT2>0.0</distortionT2>
      </plugin>
    </sensor>
    <turnGravityOff>true</turnGravityOff>
    <material>PR2/Blue</material>
  </gazebo>
  <gazebo reference="wide_stereo_link">
    <material value="PR2/Blue"/>
    <turnGravityOff value="true"/>
  </gazebo>
  <gazebo reference="wide_stereo_optical_frame">
    <material value="Gazebo/White"/>
    <turnGravityOff value="true"/>
  </gazebo>
  <joint name="narrow_stereo_frame_joint" type="fixed">
    <parent link="double_stereo_link"/>
    <child link="narrow_stereo_link"/>
    <origin rpy="-0.004379740805 -0.011997849886 0.001732382692" xyz="0.043113072712 0.059341372376 0.052720955999"/>
  </joint>
  <link name="narrow_stereo_link">
    <inertial>
      <mass value="0.1"/>
      <origin rpy="0 0 0" xyz="0 0 0"/>
      <inertia ixx="0.01" ixy="0" ixz="0" iyy="0.01" iyz="0" izz="0.01"/>
    </inertial>
  </link>
  <joint name="narrow_stereo_optical_frame_joint" type="fixed">
    <parent link="narrow_stereo_link"/>
    <child link="narrow_stereo_optical_frame"/>
    <origin rpy="-1.57079632679 0 -1.57079632679" xyz="0 0 0"/>
  </joint>
  <link name="narrow_stereo_optical_frame" type="camera"/>
  <joint name="narrow_stereo_l_stereo_camera_frame_joint" type="fixed">
    <parent link="narrow_stereo_link"/>
    <child link="narrow_stereo_l_stereo_camera_frame"/>
    <origin rpy="0 0 0" xyz="0 0 0"/>
  </joint>
  <link name="narrow_stereo_l_stereo_camera_frame">
    <inertial>
      <mass value="0.01"/>
      <origin xyz="0 0 0"/>
      <inertia ixx="0.001" ixy="0" ixz="0" iyy="0.001" iyz="0" izz="0.001"/>
    </inertial>
  </link>
  <joint name="narrow_stereo_l_stereo_camera_optical_frame_joint" type="fixed">
    <parent link="narrow_stereo_l_stereo_camera_frame"/>
    <child link="narrow_stereo_l_stereo_camera_optical_frame"/>
    <origin rpy="-1.57079632679 0 -1.57079632679" xyz="0 0 0"/>
  </joint>
  <link name="narrow_stereo_l_stereo_camera_optical_frame"/>
  <gazebo reference="narrow_stereo_l_stereo_camera_frame">
    <sensor name="narrow_stereo_l_stereo_camera_sensor" type="depth">
      <always_on>true</always_on>
      <update_rate>25.0</update_rate>
      <camera>
        <horizontal_fov>0.785398163397</horizontal_fov>
        <image>
          <format>L8</format>
          <width>640</width>
          <height>480</height>
        </image>
        <clip>
          <near>0.1</near>
          <far>100</far>
        </clip>
      </camera>
      <plugin filename="libgazebo_ros_depth_camera.so" name="narrow_stereo_l_stereo_camera_controller">
        <alwaysOn>true</alwaysOn>
        <updateRate>25.0</updateRate>
        <cameraName>narrow_stereo/left</cameraName>
        <imageTopicName>image_raw</imageTopicName>
        <cameraInfoTopicName>camera_info</cameraInfoTopicName>
        <frameName>narrow_stereo_optical_frame</frameName>
        <hackBaseline>0</hackBaseline>
        <CxPrime>320.5</CxPrime>
        <Cx>320.5</Cx>
        <Cy>240.5</Cy>
        <!-- image_width / (2*tan(hfov_radian /2)) -->
        <!-- 320 for wide and 772.55 for narrow stereo camera -->
        <focalLength>772.55</focalLength>
        <distortionK1>0.0</distortionK1>
        <distortionK2>0.0</distortionK2>
        <distortionK3>0.0</distortionK3>
        <distortionT1>0.0</distortionT1>
        <distortionT2>0.0</distortionT2>
      </plugin>
    </sensor>
    <turnGravityOff>true</turnGravityOff>
    <material>PR2/Blue</material>
  </gazebo>
  <joint name="narrow_stereo_r_stereo_camera_frame_joint" type="fixed">
    <parent link="narrow_stereo_l_stereo_camera_frame"/>
    <child link="narrow_stereo_r_stereo_camera_frame"/>
    <origin rpy="0 0 0" xyz="0 -0.09 0"/>
  </joint>
  <link name="narrow_stereo_r_stereo_camera_frame">
    <inertial>
      <mass value="0.01"/>
      <origin xyz="0 0 0"/>
      <inertia ixx="0.001" ixy="0" ixz="0" iyy="0.001" iyz="0" izz="0.001"/>
    </inertial>
  </link>
  <joint name="narrow_stereo_r_stereo_camera_optical_frame_joint" type="fixed">
    <parent link="narrow_stereo_r_stereo_camera_frame"/>
    <child link="narrow_stereo_r_stereo_camera_optical_frame"/>
    <origin rpy="-1.57079632679 0 -1.57079632679" xyz="0 0 0"/>
  </joint>
  <link name="narrow_stereo_r_stereo_camera_optical_frame"/>
  <gazebo reference="narrow_stereo_r_stereo_camera_frame">
    <sensor name="narrow_stereo_r_stereo_camera_sensor" type="depth">
      <always_on>true</always_on>
      <update_rate>25.0</update_rate>
      <camera>
        <horizontal_fov>0.785398163397</horizontal_fov>
        <image>
          <format>L8</format>
          <width>640</width>
          <height>480</height>
        </image>
        <clip>
          <near>0.1</near>
          <far>100</far>
        </clip>
      </camera>
      <plugin filename="libgazebo_ros_depth_camera.so" name="narrow_stereo_r_stereo_camera_controller">
        <alwaysOn>true</alwaysOn>
        <updateRate>25.0</updateRate>
        <cameraName>narrow_stereo/right</cameraName>
        <imageTopicName>image_raw</imageTopicName>
        <cameraInfoTopicName>camera_info</cameraInfoTopicName>
        <frameName>narrow_stereo_optical_frame</frameName>
        <hackBaseline>0.09</hackBaseline>
        <CxPrime>320.5</CxPrime>
        <Cx>320.5</Cx>
        <Cy>240.5</Cy>
        <!-- image_width / (2*tan(hfov_radian /2)) -->
        <!-- 320 for wide and 772.55 for narrow stereo camera -->
        <focalLength>772.55</focalLength>
        <distortionK1>0.0</distortionK1>
        <distortionK2>0.0</distortionK2>
        <distortionK3>0.0</distortionK3>
        <distortionT1>0.0</distortionT1>
        <distortionT2>0.0</distortionT2>
      </plugin>
    </sensor>
    <turnGravityOff>true</turnGravityOff>
    <material>PR2/Blue</material>
  </gazebo>
  <gazebo reference="narrow_stereo_link">
    <material value="PR2/Blue"/>
    <turnGravityOff value="true"/>
  </gazebo>
  <gazebo reference="narrow_stereo_optical_frame">
    <material value="Gazebo/White"/>
    <turnGravityOff value="true"/>
  </gazebo>
  <gazebo reference="double_stereo_double_stereo_link">
    <material value="PR2/Blue"/>
  </gazebo>
  <gazebo reference="sensor_mount_sensor_link">
    <material value="PR2/Blue"/>
  </gazebo>
  <joint name="projector_wg6802418_frame_joint" type="fixed">
    <parent link="head_plate_frame"/>
    <child link="projector_wg6802418_frame"/>
    <origin rpy="0 0 0" xyz="0 0.11 0.0546"/>
  </joint>
  <link name="projector_wg6802418_frame">
    <inertial>
      <mass value="0.01"/>
      <origin rpy="0 0 0" xyz="0 0 0"/>
      <inertia ixx="0.001" ixy="0" ixz="0" iyy="0.001" iyz="0" izz="0.001"/>
    </inertial>
  </link>
  <joint name="projector_wg6802418_child_frame_joint" type="fixed">
    <parent link="projector_wg6802418_frame"/>
    <child link="projector_wg6802418_child_frame"/>
    <origin rpy="0 -1.57079632679 0" xyz="0 0 0"/>
  </joint>
  <link name="projector_wg6802418_child_frame">
    <inertial>
      <mass value="0.01"/>
      <origin rpy="0 0 0" xyz="0 0 0"/>
      <inertia ixx="0.001" ixy="0" ixz="0" iyy="0.001" iyz="0" izz="0.001"/>
    </inertial>
  </link>
  <gazebo reference="projector_wg6802418_child_frame">
    <projector name="projector_wg6802418_projector_wg6802418">
      <pose>0 0 0 0 -1.5707 0</pose>
      <texture>stereo_projection_pattern_high_res_red.png</texture>
      <fov>0.959931088597</fov>
      <near_clip>0.1</near_clip>
      <far_clip>10</far_clip>
    </projector>
  </gazebo>
  <gazebo>
    <plugin filename="libgazebo_ros_projector.so" name="projector_wg6802418_controller">
      <projector>projector_wg6802418_child_frame/projector_wg6802418_projector_wg6802418</projector>
      <alwaysOn>true</alwaysOn>
      <updateRate>15.0</updateRate>
      <textureName>stereo_projection_pattern_high_res_red.png</textureName>
      <filterTextureName>stereo_projection_pattern_filter.png</filterTextureName>
      <textureTopicName>projector_wg6802418_controller/image</textureTopicName>
      <projectorTopicName>projector_wg6802418_controller/projector</projectorTopicName>
    </plugin>
  </gazebo>
  <joint name="head_mount_joint" type="fixed">
    <parent link="head_plate_frame"/>
    <child link="head_mount_link"/>
    <origin rpy="0 0 0" xyz="-0.138 0 0.091"/>
  </joint>
  <link name="head_mount_link"/>
  <joint name="head_mount_kinect_ir_joint" type="fixed">
    <parent link="head_mount_link"/>
    <child link="head_mount_kinect_ir_link"/>
    <origin rpy="0 0 0" xyz="-0.032267 0.0125 0.136453"/>
  </joint>
  <link name="head_mount_kinect_ir_link"/>
  <joint name="head_mount_kinect_ir_optical_frame_joint" type="fixed">
    <parent link="head_mount_kinect_ir_link"/>
    <child link="head_mount_kinect_ir_optical_frame"/>
    <origin rpy="-1.57079632679 0 -1.57079632679" xyz="0 0.01 0"/>
  </joint>
  <link name="head_mount_kinect_ir_optical_frame"/>
  <gazebo reference="head_mount_kinect_ir_link">
    <sensor name="head_mount_ir_sensor" type="depth">
      <always_on>true</always_on>
      <update_rate>1.0</update_rate>
      <camera>
        <horizontal_fov>0.994837673637</horizontal_fov>
        <image>
          <format>L8</format>
          <width>640</width>
          <height>480</height>
        </image>
        <clip>
          <near>0.01</near>
          <far>5</far>
        </clip>
      </camera>
      <plugin filename="libgazebo_ros_openni_kinect.so" name="head_mount_kinect_ir_link_controller">
        <baseline>0.2</baseline>
        <alwaysOn>true</alwaysOn>
        <updateRate>1.0</updateRate>
        <cameraName>head_mount_kinect_ir</cameraName>
        <imageTopicName>/head_mount_kinect/depth/image_raw</imageTopicName>
        <cameraInfoTopicName>/head_mount_kinect/depth/camera_info</cameraInfoTopicName>
        <depthImageTopicName>/head_mount_kinect/depth/image_raw</depthImageTopicName>
        <depthImageInfoTopicName>/head_mount_kinect/depth/camera_info</depthImageInfoTopicName>
        <pointCloudTopicName>/head_mount_kinect/depth/points</pointCloudTopicName>
        <frameName>head_mount_kinect_ir_optical_frame</frameName>
        <pointCloudCutoff>0.5</pointCloudCutoff>
        <distortionK1>0.00000001</distortionK1>
        <distortionK2>0.00000001</distortionK2>
        <distortionK3>0.00000001</distortionK3>
        <distortionT1>0.00000001</distortionT1>
        <distortionT2>0.00000001</distortionT2>
      </plugin>
    </sensor>
    <material value="Gazebo/Red"/>
  </gazebo>
  <joint name="head_mount_kinect_rgb_joint" type="fixed">
    <parent link="head_mount_kinect_ir_link"/>
    <child link="head_mount_kinect_rgb_link"/>
    <origin rpy="-0.006362360178 -0.036288968859 -0.003498282839" xyz="-0.011274983694 -0.024595566211 -0.010102622757"/>
  </joint>
  <link name="head_mount_kinect_rgb_link"/>
  <joint name="head_mount_kinect_rgb_optical_frame_joint" type="fixed">
    <parent link="head_mount_kinect_rgb_link"/>
    <child link="head_mount_kinect_rgb_optical_frame"/>
    <origin rpy="-1.57079632679 0 -1.57079632679" xyz="0 0 0"/>
  </joint>
  <link name="head_mount_kinect_rgb_optical_frame"/>
  <gazebo reference="head_mount_kinect_rgb_link">
    <sensor name="head_mount_rgb_sensor" type="depth">
      <always_on>true</always_on>
      <update_rate>1.0</update_rate>
      <camera>
        <horizontal_fov>0.994837673637</horizontal_fov>
        <image>
          <format>R8G8B8</format>
          <width>640</width>
          <height>480</height>
        </image>
        <clip>
          <near>0.01</near>
          <far>5</far>
        </clip>
      </camera>
      <plugin filename="libgazebo_ros_openni_kinect.so" name="head_mount_kinect_rgb_link_controller">
        <alwaysOn>true</alwaysOn>
        <updateRate>1.0</updateRate>
        <cameraName>head_mount_kinect_rgb</cameraName>
        <imageTopicName>/head_mount_kinect/rgb/image_raw</imageTopicName>
        <cameraInfoTopicName>/head_mount_kinect/rgb/camera_info</cameraInfoTopicName>
        <pointCloudTopicName>/head_mount_kinect/depth_registered/points</pointCloudTopicName>
        <frameName>head_mount_kinect_rgb_optical_frame</frameName>
        <pointCloudCutoff>0.5</pointCloudCutoff>
        <distortionK1>0.00000001</distortionK1>
        <distortionK2>0.00000001</distortionK2>
        <distortionK3>0.00000001</distortionK3>
        <distortionT1>0.00000001</distortionT1>
        <distortionT2>0.00000001</distortionT2>
      </plugin>
    </sensor>
    <material value="Gazebo/Red"/>
  </gazebo>
  <joint name="head_mount_kinect2_rgb_optical_frame_joint" type="fixed">
    <!--parent link="sensor_mount_link"/-->
    <parent link="high_def_optical_frame"/>
    <child link="head_mount_kinect2_rgb_optical_frame"/>
    <!--origin rpy="-0.012506733065012418 0.002390619606301143 -0.004959653276142874" xyz="-0.0178549808234735 -0.0647036985929057 -0.03653577008893"/-->
    <origin rpy="6.262691 0.000163 0.005596" xyz="-0.017815 -0.064648 -0.037164"/>
  </joint>
  <link name="head_mount_kinect2_rgb_optical_frame"/>
  <joint name="head_mount_kinect2_ir_optical_frame_joint" type="fixed">
    <parent link="head_mount_kinect2_rgb_optical_frame"/>
    <child link="head_mount_kinect2_ir_optical_frame"/>
    \

    <origin rpy="0.0023123703682906313 0.0056320953034389425 0.0022080453816523005" xyz="-0.050972994874597992 0.00017844406311044261 0.0013319122998533958"/>
    <!--origin rpy="-0.013684763249963695 -0.025600932251733863 0.016992511468120128" xyz="-0.053701094650848165 0.00031740245711211627 0.00072331905645019656"/-->
  </joint>
  <link name="head_mount_kinect2_ir_optical_frame"/>
  <joint name="head_mount_prosilica_joint" type="fixed">
    <parent link="head_mount_link"/>
    <child link="head_mount_prosilica_link"/>
    <origin rpy="0 0 0" xyz="-0.046457 0.0125 0.088921"/>
  </joint>
  <link name="head_mount_prosilica_link"/>
  <joint name="head_mount_prosilica_optical_frame_joint" type="fixed">
    <parent link="head_mount_prosilica_link"/>
    <child link="head_mount_prosilica_optical_frame"/>
    <origin rpy="-1.57079632679 0 -1.57079632679" xyz="0 0 0"/>
  </joint>
  <link name="head_mount_prosilica_optical_frame"/>
  <gazebo reference="head_mount_prosilica_link">
    <sensor name="head_mount_prosilica_link_sensor" type="depth">
      <always_on>true</always_on>
      <update_rate>1.0</update_rate>
      <camera>
        <horizontal_fov>1.12050137978</horizontal_fov>
        <image>
          <format>R8G8B8</format>
          <width>320</width>
          <height>240</height>
        </image>
        <clip>
          <near>0.1</near>
          <far>100</far>
        </clip>
      </camera>
      <plugin filename="libgazebo_ros_prosilica.so" name="head_mount_prosilica_link_controller">
        <alwaysOn>true</alwaysOn>
        <updateRate>1.0</updateRate>
        <cameraName>prosilica_camera_1mb</cameraName>
        <imageTopicName>image_raw</imageTopicName>
        <cameraInfoTopicName>camera_info</cameraInfoTopicName>
        <pollServiceName>request_image</pollServiceName>
        <frameName>head_mount_prosilica_optical_frame</frameName>
        <distortionK1>0.0</distortionK1>
        <distortionK2>0.0</distortionK2>
        <distortionK3>0.0</distortionK3>
        <distortionT1>0.0</distortionT1>
        <distortionT2>0.0</distortionT2>
      </plugin>
    </sensor>
    <sensor name="head_mount_prosilica_link_sim_pcd_sensor" type="depth">
      <always_on>true</always_on>
      <update_rate>1.0</update_rate>
      <camera>
        <horizontal_fov>1.12050137978</horizontal_fov>
        <image>
          <format>R8G8B8</format>
          <width>320</width>
          <height>240</height>
        </image>
        <clip>
          <near>0.1</near>
          <far>100</far>
        </clip>
      </camera>
      <plugin filename="libgazebo_ros_openni_kinect.so" name="head_mount_prosilica_link_sim_pcd_controller">
        <alwaysOn>true</alwaysOn>
        <updateRate>1.0</updateRate>
        <cameraName>prosilica_camera_1mb_sim_pcd</cameraName>
        <imageTopicName>image_raw</imageTopicName>
        <cameraInfoTopicName>camera_info</cameraInfoTopicName>
        <frameName>head_mount_prosilica_optical_frame</frameName>
      </plugin>
    </sensor>
    <material value="Gazebo/Red"/>
  </gazebo>
  <joint name="laser_tilt_mount_joint" type="revolute">
    <parent link="torso_lift_link"/>
    <child link="laser_tilt_mount_link"/>
    <origin rpy="0 0 0" xyz="0.09893 0 0.227"/>
    <axis xyz="0 1 0"/>
    <limit effort="0.65" lower="-0.7854" upper="1.48353" velocity="10"/>
    <dynamics damping="0.008"/>
    <safety_controller k_position="100" k_velocity="0.05" soft_lower_limit="-0.7354" soft_upper_limit="1.43353"/>
    <calibration falling="-0.011513181203"/>
  </joint>
  <link name="laser_tilt_mount_link">
    <inertial>
      <mass value="0.591"/>
      <origin rpy="0 0 0" xyz="-0.001136 0.00167 -0.00713"/>
      <inertia ixx="0.001195273" ixy="0.000023087" ixz="0.000037467" iyy="0.001083956" iyz="0.000034906" izz="0.000795014"/>
    </inertial>
    <visual>
      <origin rpy="0 0 0" xyz="0 0 0"/>
      <geometry>
        <box size="0.05 0.05 0.05"/>
      </geometry>
      <material name="Red"/>
    </visual>
    <collision>
      <origin rpy="0 0 0" xyz="0 0 0"/>
      <geometry>
        <box size="0.05 0.05 0.05"/>
      </geometry>
    </collision>
  </link>
  <joint name="laser_tilt_joint" type="fixed">
    <parent link="laser_tilt_mount_link"/>
    <child link="laser_tilt_link"/>
    <origin rpy="0 0 -0.011866389294" xyz="0 0 0.02920161101"/>
    <axis xyz="0 1 0"/>
  </joint>
  <link name="laser_tilt_link" type="laser">
    <inertial>
      <mass value="0.001"/>
      <origin rpy="0 0 0" xyz="0 0 0"/>
      <inertia ixx="0.0001" ixy="0" ixz="0" iyy="0.000001" iyz="0" izz="0.0001"/>
    </inertial>
  </link>
  <gazebo reference="laser_tilt_link">
    <sensor name="laser_tilt" type="ray">
      <always_on>true</always_on>
      <update_rate>40</update_rate>
      <pose>0 0 0 0 0 0</pose>
      <visualize>false</visualize>
      <ray>
        <scan>
          <horizontal>
            <samples>640</samples>
            <resolution>1</resolution>
            <min_angle>-1.3962634</min_angle>
            <max_angle>1.3962634</max_angle>
          </horizontal>
        </scan>
        <range>
          <min>0.08</min>
          <max>10.0</max>
          <resolution>0.01</resolution>
        </range>
      </ray>
      <plugin filename="libgazebo_ros_laser.so" name="gazebo_ros_laser_tilt_controller">
        <gaussianNoise>0.005</gaussianNoise>
        <alwaysOn>true</alwaysOn>
        <updateRate>40</updateRate>
        <topicName>tilt_scan</topicName>
        <frameName>laser_tilt_link</frameName>
      </plugin>
    </sensor>
  </gazebo>
  <gazebo reference="laser_tilt_mount_link"/>
  <transmission name="laser_tilt_mount_trans" type="pr2_mechanism_model/SimpleTransmission">
    <actuator name="laser_tilt_mount_motor"/>
    <joint name="laser_tilt_mount_joint"/>
    <mechanicalReduction>-6.05</mechanicalReduction>
  </transmission>
  <joint name="r_shoulder_pan_joint" type="revolute">
    <parent link="torso_lift_link"/>
    <child link="r_shoulder_pan_link"/>
    <origin rpy="0 0 0" xyz="0 -0.188 0"/>
    <axis xyz="0 0 1"/>
    <limit effort="30" lower="-2.2853981634" upper="0.714601836603" velocity="0.15"/>
    <dynamics damping="10.0"/>
    <safety_controller k_position="100" k_velocity="10" soft_lower_limit="-2.1353981634" soft_upper_limit="0.564601836603"/>
    <calibration rising="-0.781463230055"/>
  </joint>
  <link name="r_shoulder_pan_link">
    <inertial>
      <mass value="25.799322"/>
      <origin rpy="0 0 0" xyz="-0.001201 0.024513 -0.098231"/>
      <inertia ixx="0.86617914248" ixy="-0.06086507933" ixz="-0.12118061183" iyy="0.87421714893" iyz="-0.05886609911" izz="0.27353821674"/>
    </inertial>
    <visual>
      <origin rpy="0 0 0" xyz="0 0 0"/>
      <geometry>
        <box size="0.05 0.05 0.05"/>
      </geometry>
      <material name="Blue"/>
    </visual>
    <collision>
      <origin rpy="0 0 0" xyz="0 0 0"/>
      <geometry>
        <box size="0.05 0.05 0.05"/>
      </geometry>
    </collision>
  </link>
  <joint name="r_shoulder_lift_joint" type="revolute">
    <parent link="r_shoulder_pan_link"/>
    <child link="r_shoulder_lift_link"/>
    <origin rpy="0 0 0" xyz="0.1 0 0"/>
    <axis xyz="0 1 0"/>
    <limit effort="30" lower="-0.5236" upper="1.3963" velocity="0.2"/>
    <dynamics damping="10.0"/>
    <safety_controller k_position="100" k_velocity="10" soft_lower_limit="-0.3536" soft_upper_limit="1.2963"/>
    <calibration falling="-0.006751039265"/>
  </joint>
  <link name="r_shoulder_lift_link">
    <inertial>
      <mass value="2.74988"/>
      <origin rpy="0 0 0" xyz="0.02195 -0.02664 -0.03127"/>
      <inertia ixx="0.02105584615" ixy="0.00496704022" ixz="-0.00194808955" iyy="0.02127223737" iyz="0.0011042549" izz="0.01975753814"/>
    </inertial>
    <visual>
      <origin rpy="0 0 0" xyz="0 0 0"/>
      <geometry>
        <box size="0.05 0.05 0.05"/>
      </geometry>
      <material name="Grey"/>
    </visual>
    <collision>
      <origin rpy="0 0 0" xyz="0 0 0"/>
      <geometry>
        <box size="0.05 0.05 0.05"/>
      </geometry>
    </collision>
  </link>
  <joint name="r_upper_arm_roll_joint" type="revolute">
    <parent link="r_shoulder_lift_link"/>
    <child link="r_upper_arm_roll_link"/>
    <origin rpy="0 0 0" xyz="0 0 0"/>
    <axis xyz="1 0 0"/>
    <limit effort="30" lower="-3.9" upper="0.8" velocity="3.27"/>
    <dynamics damping="0.1"/>
    <safety_controller k_position="100" k_velocity="2" soft_lower_limit="-3.75" soft_upper_limit="0.65"/>
    <calibration rising="-1.572712104158"/>
  </joint>
  <link name="r_upper_arm_roll_link">
    <inertial>
      <mass value="0.1"/>
      <origin rpy="0 0 0" xyz="0 0 0"/>
      <inertia ixx="0.01" ixy="0" ixz="0" iyy="0.01" iyz="0" izz="0.01"/>
    </inertial>
    <visual>
      <origin rpy="0 0 0" xyz="0 0 0"/>
      <geometry>
        <box size="0.05 0.05 0.05"/>
      </geometry>
      <material name="RollLinks"/>
    </visual>
    <collision>
      <origin rpy="0 0 0" xyz="0 0 0"/>
      <geometry>
        <box size="0.05 0.05 0.05"/>
      </geometry>
    </collision>
  </link>
  <gazebo reference="r_upper_arm_roll_link">
    <material value="PR2/RollLinks"/>
    <turnGravityOff>true</turnGravityOff>
  </gazebo>
  <gazebo reference="r_upper_arm_roll_joint">
    <stopKd value="1.0"/>
    <stopKp value="1000000.0"/>
    <fudgeFactor value="0.5"/>
  </gazebo>
  <transmission name="r_upper_arm_roll_trans" type="pr2_mechanism_model/SimpleTransmission">
    <actuator name="r_upper_arm_roll_motor"/>
    <joint name="r_upper_arm_roll_joint"/>
    <mechanicalReduction>32.6525111499</mechanicalReduction>
  </transmission>
  <gazebo reference="r_shoulder_pan_link">
    <turnGravityOff>true</turnGravityOff>
  </gazebo>
  <gazebo reference="r_shoulder_pan_joint">
    <stopKd value="1.0"/>
    <stopKp value="1000000.0"/>
  </gazebo>
  <gazebo reference="r_shoulder_lift_link">
    <turnGravityOff>true</turnGravityOff>
  </gazebo>
  <gazebo reference="r_shoulder_lift_joint">
    <stopKd value="1.0"/>
    <stopKp value="1000000.0"/>
  </gazebo>
  <transmission name="r_shoulder_pan_trans" type="pr2_mechanism_model/SimpleTransmission">
    <actuator name="r_shoulder_pan_motor"/>
    <joint name="r_shoulder_pan_joint"/>
    <mechanicalReduction>63.1552452977</mechanicalReduction>
    <compensator k_belt="4000.0" kd_motor="15.0" lambda_combined="0.0" lambda_joint="40.0" lambda_motor="40.0" mass_motor="0.05"/>
  </transmission>
  <transmission name="r_shoulder_lift_trans" type="pr2_mechanism_model/SimpleTransmission">
    <actuator name="r_shoulder_lift_motor"/>
    <joint name="r_shoulder_lift_joint"/>
    <mechanicalReduction>61.8948225713</mechanicalReduction>
    <compensator k_belt="4000.0" kd_motor="10.0" lambda_combined="0.0" lambda_joint="60.0" lambda_motor="60.0" mass_motor="0.05"/>
  </transmission>
  <joint name="r_upper_arm_joint" type="fixed">
    <parent link="r_upper_arm_roll_link"/>
    <child link="r_upper_arm_link"/>
    <origin rpy="0 0 0" xyz="0 0 0"/>
  </joint>
  <link name="r_upper_arm_link">
    <inertial>
      <mass value="6.01769"/>
      <origin xyz="0.21398 -0.01621 -0.0002"/>
      <inertia ixx="0.01537748957" ixy="0.00375711247" ixz="-0.00070852914" iyy="0.0747367044" iyz="-0.0001793645" izz="0.07608763307"/>
    </inertial>
    <visual>
      <origin rpy="0 0 0" xyz="0 0 0"/>
      <geometry>
        <box size="0.05 0.05 0.05"/>
      </geometry>
      <material name="Green"/>
    </visual>
    <collision>
      <origin rpy="0 0 0" xyz="0 0 0"/>
      <geometry>
        <box size="0.05 0.05 0.05"/>
      </geometry>
    </collision>
  </link>
  <gazebo reference="r_upper_arm_link">
    <turnGravityOff>true</turnGravityOff>
  </gazebo>
  <joint name="r_forearm_roll_joint" type="continuous">
    <parent link="r_elbow_flex_link"/>
    <child link="r_forearm_roll_link"/>
    <origin rpy="0 0 0" xyz="0 0 0"/>
    <axis xyz="1 0 0"/>
    <limit effort="30" velocity="3.6"/>
    <dynamics damping="0.1"/>
    <safety_controller k_velocity="1"/>
    <calibration rising="0.010492717981"/>
  </joint>
  <link name="r_forearm_roll_link">
    <inertial>
      <mass value="0.1"/>
      <origin xyz="0 0 0"/>
      <inertia ixx="0.01" ixy="0" ixz="0" iyy="0.01" iyz="0" izz="0.01"/>
    </inertial>
    <visual>
      <origin rpy="0 0 0" xyz="0 0 0"/>
      <geometry>
        <box size="0.05 0.05 0.05"/>
      </geometry>
      <material name="RollLinks"/>
    </visual>
    <collision>
      <origin rpy="0 0 0" xyz="0 0 0"/>
      <geometry>
        <box size="0.05 0.05 0.05"/>
      </geometry>
    </collision>
  </link>
  <gazebo reference="r_forearm_roll_link">
    <material value="PR2/RollLinks"/>
    <turnGravityOff>true</turnGravityOff>
  </gazebo>
  <gazebo reference="r_forearm_roll_joint">
    <fudgeFactor value="0.5"/>
  </gazebo>
  <transmission name="r_forearm_roll_trans" type="pr2_mechanism_model/SimpleTransmission">
    <actuator name="r_forearm_roll_motor"/>
    <joint name="r_forearm_roll_joint"/>
    <mechanicalReduction>-90.5142857143</mechanicalReduction>
  </transmission>
  <joint name="r_elbow_flex_joint" type="revolute">
    <parent link="r_upper_arm_link"/>
    <child link="r_elbow_flex_link"/>
    <origin rpy="0 0 0" xyz="0.4 0 0"/>
    <axis xyz="0 1 0"/>
    <limit effort="30" lower="-2.3213" upper="0" velocity="3.3"/>
    <dynamics damping="1.0"/>
    <safety_controller k_position="100" k_velocity="3" soft_lower_limit="-2.1213" soft_upper_limit="-0.15"/>
    <calibration falling="-1.1606"/>
  </joint>
  <link name="r_elbow_flex_link">
    <inertial>
      <mass value="1.90327"/>
      <origin xyz="0.01014 0.00032 -0.01211"/>
      <inertia ixx="0.00346541989" ixy="0.00004066825" ixz="0.00043171614" iyy="0.00441606455" iyz="-0.00003968914" izz="0.00359156824"/>
    </inertial>
    <visual>
      <origin rpy="0 0 0" xyz="0 0 0"/>
      <geometry>
        <box size="0.05 0.05 0.05"/>
      </geometry>
      <material name="Grey"/>
    </visual>
    <collision>
      <origin rpy="0 0 0" xyz="0 0 0"/>
      <geometry>
        <box size="0.05 0.05 0.05"/>
      </geometry>
    </collision>
  </link>
  <gazebo reference="r_elbow_flex_joint">
    <initial_joint_position>-1.0</initial_joint_position>
  </gazebo>
  <gazebo reference="r_elbow_flex_link">
    <turnGravityOff>true</turnGravityOff>
  </gazebo>
  <gazebo reference="r_elbow_flex_joint">
    <stopKd value="1.0"/>
    <stopKp value="1000000.0"/>
  </gazebo>
  <transmission name="r_elbow_flex_trans" type="pr2_mechanism_model/SimpleTransmission">
    <actuator name="r_elbow_flex_motor"/>
    <joint name="r_elbow_flex_joint"/>
    <mechanicalReduction>-36.167452007</mechanicalReduction>
  </transmission>
  <joint name="r_forearm_joint" type="fixed">
    <parent link="r_forearm_roll_link"/>
    <child link="r_forearm_link"/>
    <origin rpy="0 0 0" xyz="0 0 0"/>
  </joint>
  <link name="r_forearm_link">
    <inertial>
      <mass value="2.57968"/>
      <origin xyz="0.18791 -0.00017 -0.00912"/>
      <inertia ixx="0.00364857222" ixy="0.00005215877" ixz="0.00071534842" iyy="0.01507736897" iyz="-0.0000131077" izz="0.01659310749"/>
    </inertial>
    <visual>
      <origin rpy="0 0 0" xyz="0 0 0"/>
      <geometry>
        <box size="0.05 0.05 0.05"/>
      </geometry>
      <material name="Grey"/>
    </visual>
    <collision>
      <origin rpy="0 0 0" xyz="0 0 0"/>
      <geometry>
        <box size="0.05 0.05 0.05"/>
      </geometry>
    </collision>
  </link>
  <joint name="r_wrist_flex_joint" type="revolute">
    <parent link="r_forearm_link"/>
    <child link="r_wrist_flex_link"/>
    <origin rpy="0 0 0" xyz="0.321 0 0"/>
    <axis xyz="0 1 0"/>
    <limit effort="10" lower="-2.18" upper="0" velocity="3.078"/>
    <dynamics damping="0.1"/>
    <safety_controller k_position="20" k_velocity="4" soft_lower_limit="-2" soft_upper_limit="-0.1"/>
    <calibration falling="-0.529965911033"/>
  </joint>
  <link name="r_wrist_flex_link">
    <inertial>
      <mass value="0.61402"/>
      <origin xyz="-0.00157 0 -0.00075"/>
      <inertia ixx="0.00065165722" ixy="0.00000028864" ixz="0.00000303477" iyy="0.00019824443" iyz="-0.00000022645" izz="0.00064450498"/>
    </inertial>
    <visual>
      <origin rpy="0 0 0" xyz="0 0 0"/>
      <geometry>
        <box size="0.05 0.05 0.05"/>
      </geometry>
      <material name="Grey"/>
    </visual>
    <collision>
      <origin rpy="0 0 0" xyz="0 0 0"/>
      <geometry>
        <box size="0.05 0.05 0.05"/>
      </geometry>
    </collision>
  </link>
  <joint name="r_wrist_roll_joint" type="continuous">
    <parent link="r_wrist_flex_link"/>
    <child link="r_wrist_roll_link"/>
    <origin rpy="0 0 0" xyz="0 0 0"/>
    <axis xyz="1 0 0"/>
    <limit effort="10" velocity="3.6"/>
    <dynamics damping="0.1"/>
    <safety_controller k_velocity="2"/>
    <calibration rising="-1.49293411507"/>
  </joint>
  <link name="r_wrist_roll_link">
    <inertial>
      <mass value="0.1"/>
      <origin xyz="0 0 0"/>
      <inertia ixx="0.01" ixy="0" ixz="0" iyy="0.01" iyz="0" izz="0.01"/>
    </inertial>
    <visual>
      <origin rpy="0 0 0" xyz="0 0 0"/>
      <geometry>
        <box size="0.05 0.05 0.05"/>
      </geometry>
      <material name="RollLinks"/>
    </visual>
    <collision>
      <origin rpy="0 0 0" xyz="0 0 0"/>
      <geometry>
        <box size="0.05 0.05 0.05"/>
      </geometry>
    </collision>
  </link>
  <gazebo reference="r_forearm_link">
    <turnGravityOff>true</turnGravityOff>
  </gazebo>
  <gazebo reference="r_wrist_flex_link">
    <turnGravityOff>true</turnGravityOff>
  </gazebo>
  <gazebo reference="r_wrist_flex_joint">
    <stopKd value="1.0"/>
    <stopKp value="1000000.0"/>
  </gazebo>
  <gazebo reference="r_wrist_roll_link">
    <turnGravityOff>true</turnGravityOff>
    <material value="PR2/RollLinks"/>
  </gazebo>
  <gazebo reference="r_wrist_roll_joint">
    <fudgeFactor value="0.5"/>
  </gazebo>
  <transmission name="r_wrist_trans" type="pr2_mechanism_model/WristTransmission">
    <rightActuator mechanicalReduction="60.1714285714" name="r_wrist_r_motor"/>
    <leftActuator mechanicalReduction="60.1714285714" name="r_wrist_l_motor"/>
    <flexJoint mechanicalReduction="-1.0" name="r_wrist_flex_joint"/>
    <rollJoint mechanicalReduction="1.0" name="r_wrist_roll_joint"/>
  </transmission>
  <joint name="r_gripper_palm_joint" type="fixed">
    <parent link="r_wrist_roll_link"/>
    <child link="r_gripper_palm_link"/>
    <origin rpy="0 0 0" xyz="0 0 0"/>
  </joint>
  <link name="r_gripper_palm_link">
    <inertial>
      <mass value="0.58007"/>
      <origin rpy="0 0 0" xyz="0.06623 0.00053 -0.00119"/>
      <inertia ixx="0.00035223921" ixy="-0.00001580476" ixz="-0.0000009175" iyy="0.00067741312" iyz="-0.00000059554" izz="0.00086563316"/>
    </inertial>
    <visual>
      <origin rpy="0 0 0" xyz="0 0 0"/>
      <geometry>
        <box size="0.05 0.05 0.05"/>
      </geometry>
      <material name="Red"/>
    </visual>
    <collision>
      <origin rpy="0 0 0" xyz="0 0 0"/>
      <geometry>
        <box size="0.05 0.05 0.05"/>
      </geometry>
    </collision>
  </link>
  <joint name="r_gripper_led_joint" type="fixed">
    <parent link="r_gripper_palm_link"/>
    <child link="r_gripper_led_frame"/>
    <origin rpy="0 0 0" xyz="0.0513 0 0.0244"/>
  </joint>
  <link name="r_gripper_led_frame"/>
  <joint name="r_gripper_motor_accelerometer_joint" type="fixed">
    <parent link="r_gripper_palm_link"/>
    <child link="r_gripper_motor_accelerometer_link"/>
    <origin rpy="0 0 0" xyz="0 0 0"/>
  </joint>
  <link name="r_gripper_motor_accelerometer_link"/>
  <joint name="r_gripper_tool_joint" type="fixed">
    <parent link="r_gripper_palm_link"/>
    <child link="r_gripper_tool_frame"/>
    <origin rpy="0 0 0" xyz="0.18 0 0"/>
  </joint>
  <link name="r_gripper_tool_frame"/>
  <link name="r_gripper_motor_slider_link">
    <inertial>
      <mass value="0.01"/>
      <origin rpy="0 0 0" xyz="0 0 0"/>
      <inertia ixx="0.001" ixy="0" ixz="0" iyy="0.001" iyz="0" izz="0.001"/>
    </inertial>
  </link>
  <joint name="r_gripper_motor_slider_joint" type="prismatic">
    <parent link="r_gripper_palm_link"/>
    <child link="r_gripper_motor_slider_link"/>
    <origin rpy="0 0 0" xyz="0.16828 0 0"/>
    <axis xyz="1 0 0"/>
    <limit effort="1000" lower="-0.1" upper="0.1" velocity="0.2"/>
  </joint>
  <link name="r_gripper_motor_screw_link">
    <inertial>
      <mass value="0.01"/>
      <origin rpy="0 0 0" xyz="0 0 0"/>
      <inertia ixx="0.0001" ixy="0" ixz="0" iyy="0.0001" iyz="0" izz="0.0001"/>
    </inertial>
  </link>
  <joint name="r_gripper_motor_screw_joint" type="continuous">
    <parent link="r_gripper_motor_slider_link"/>
    <child link="r_gripper_motor_screw_link"/>
    <origin rpy="0 0 0" xyz="0 0 0"/>
    <axis xyz="0 1 0"/>
    <dynamics damping="0.0001"/>
  </joint>
  <joint name="r_gripper_l_finger_joint" type="revolute">
    <parent link="r_gripper_palm_link"/>
    <child link="r_gripper_l_finger_link"/>
    <origin rpy="0 0 0" xyz="0.07691 0.01 0"/>
    <axis xyz="0 0 1"/>
    <limit effort="1000" lower="0" upper="0.548" velocity="0.5"/>
    <dynamics damping="0.02"/>
  </joint>
  <link name="r_gripper_l_finger_link">
    <inertial>
      <mass value="0.17126"/>
      <origin rpy="0 0 0" xyz="0.03598 0.0173 -0.00164"/>
      <inertia ixx="0.00007756198" ixy="0.00000149095" ixz="-0.00000983385" iyy="0.00019708305" iyz="-0.00000306125" izz="0.00018105446"/>
    </inertial>
    <visual>
      <origin rpy="0 0 0" xyz="0 0 0"/>
      <geometry>
        <box size="0.05 0.05 0.05"/>
      </geometry>
      <material name="Grey"/>
    </visual>
    <collision>
      <origin rpy="0 0 0" xyz="0 0 0"/>
      <geometry>
        <box size="0.05 0.05 0.05"/>
      </geometry>
    </collision>
  </link>
  <joint name="r_gripper_r_finger_joint" type="revolute">
    <parent link="r_gripper_palm_link"/>
    <child link="r_gripper_r_finger_link"/>
    <origin rpy="0 0 0" xyz="0.07691 -0.01 0"/>
    <axis xyz="0 0 -1"/>
    <limit effort="1000" lower="0" upper="0.548" velocity="0.5"/>
    <mimic joint="r_gripper_l_finger_joint" multiplier="1" offset="0"/>
    <dynamics damping="0.02"/>
  </joint>
  <link name="r_gripper_r_finger_link">
    <inertial>
      <mass value="0.17389"/>
      <origin rpy="0 0 0" xyz="0.03576 -0.01736 -0.00095"/>
      <inertia ixx="0.0000773841" ixy="-0.00000209309" ixz="-0.00000836228" iyy="0.00019847383" iyz="0.0000024611" izz="0.00018106988"/>
    </inertial>
    <visual>
      <origin rpy="3.14159265359 0 0" xyz="0 0 0"/>
      <geometry>
        <box size="0.05 0.05 0.05"/>
      </geometry>
      <material name="Grey"/>
    </visual>
    <collision>
      <origin rpy="3.14159265359 0 0" xyz="0 0 0"/>
      <geometry>
        <box size="0.05 0.05 0.05"/>
      </geometry>
    </collision>
  </link>
  <joint name="r_gripper_l_finger_tip_joint" type="revolute">
    <parent link="r_gripper_l_finger_link"/>
    <child link="r_gripper_l_finger_tip_link"/>
    <origin rpy="0 0 0" xyz="0.09137 0.00495 0"/>
    <axis xyz="0 0 -1"/>
    <limit effort="1000" lower="0" upper="0.548" velocity="0.5"/>
    <mimic joint="r_gripper_l_finger_joint" multiplier="1" offset="0"/>
    <dynamics damping="0.001"/>
  </joint>
  <link name="r_gripper_l_finger_tip_link">
    <inertial>
      <mass value="0.04419"/>
      <origin rpy="0 0 0" xyz="0.00423 0.00284 0"/>
      <inertia ixx="0.00000837047" ixy="0.00000583632" ixz="0" iyy="0.00000987067" iyz="0" izz="0.00001541768"/>
    </inertial>
    <visual>
      <origin rpy="0 0 0" xyz="0 0 0"/>
      <geometry>
        <box size="0.05 0.05 0.05"/>
      </geometry>
      <material name="Green"/>
    </visual>
    <collision>
      <origin rpy="0 0 0" xyz="0 0 0"/>
      <geometry>
        <box size="0.05 0.05 0.05"/>
      </geometry>
    </collision>
  </link>
  <joint name="r_gripper_r_finger_tip_joint" type="revolute">
    <parent link="r_gripper_r_finger_link"/>
    <child link="r_gripper_r_finger_tip_link"/>
    <origin rpy="0 0 0" xyz="0.09137 -0.00495 0"/>
    <axis xyz="0 0 1"/>
    <limit effort="1000" lower="0" upper="0.548" velocity="0.5"/>
    <mimic joint="r_gripper_l_finger_joint" multiplier="1" offset="0"/>
    <dynamics damping="0.001"/>
  </joint>
  <link name="r_gripper_r_finger_tip_link">
    <inertial>
      <mass value="0.04419"/>
      <origin rpy="0 0 0" xyz="0.00423 -0.00284 0"/>
      <inertia ixx="0.00000837047" ixy="-0.00000583632" ixz="0" iyy="0.00000987067" iyz="0" izz="0.00001541768"/>
    </inertial>
    <visual>
      <origin rpy="3.14159265359 0 0" xyz="0 0 0"/>
      <geometry>
        <box size="0.05 0.05 0.05"/>
      </geometry>
      <material name="Green"/>
    </visual>
    <collision>
      <origin rpy="3.14159265359 0 0" xyz="0 0 0"/>
      <geometry>
        <box size="0.05 0.05 0.05"/>
      </geometry>
    </collision>
  </link>
  <gazebo reference="r_gripper_l_finger_link">
    <turnGravityOff>true</turnGravityOff>
    <mu1 value="500.0"/>
    <mu2 value="500.0"/>
    <kp value="1000000.0"/>
    <kd value="1.0"/>
  </gazebo>
  <gazebo reference="r_gripper_l_finger_joint">
    <stopKd value="1.0"/>
    <stopKp value="10000000.0"/>
    <fudgeFactor value="1.0"/>
    <provideFeedback value="true"/>
  </gazebo>
  <gazebo reference="r_gripper_r_finger_link">
    <turnGravityOff>true</turnGravityOff>
    <mu1 value="500.0"/>
    <mu2 value="500.0"/>
    <kp value="1000000.0"/>
    <kd value="1.0"/>
  </gazebo>
  <gazebo reference="r_gripper_r_finger_joint">
    <stopKd value="1.0"/>
    <stopKp value="10000000.0"/>
    <fudgeFactor value="1.0"/>
    <provideFeedback value="true"/>
  </gazebo>
  <gazebo reference="r_gripper_l_finger_tip_link">
    <turnGravityOff>true</turnGravityOff>
    <selfCollide>false</selfCollide>
    <sensor name="r_gripper_l_finger_tip_contact_sensor" type="contact">
      <update_rate>100.0</update_rate>
      <contact>
        <collision>r_gripper_l_finger_tip_link_geom</collision>
      </contact>
      <plugin filename="libgazebo_ros_bumper.so" name="r_gripper_l_finger_tip_gazebo_ros_bumper_controller">
        <alwaysOn>true</alwaysOn>
        <frameName>r_gripper_l_finger_tip_link</frameName>
        <updateRate>100.0</updateRate>
        <bumperTopicName>r_gripper_l_finger_tip_bumper</bumperTopicName>
      </plugin>
    </sensor>
    <mu1 value="500.0"/>
    <mu2 value="500.0"/>
    <kp value="10000000.0"/>
    <kd value="1.0"/>
  </gazebo>
  <gazebo reference="r_gripper_l_finger_tip_joint">
    <stopKd value="1.0"/>
    <stopKp value="10000000.0"/>
    <fudgeFactor value="1.0"/>
    <provideFeedback value="true"/>
  </gazebo>
  <gazebo reference="r_gripper_r_finger_tip_link">
    <turnGravityOff>true</turnGravityOff>
    <selfCollide>false</selfCollide>
    <sensor name="r_gripper_r_finger_tip_contact_sensor" type="contact">
      <update_rate>100.0</update_rate>
      <contact>
        <collision>r_gripper_r_finger_tip_link_geom</collision>
      </contact>
      <plugin filename="libgazebo_ros_bumper.so" name="r_gripper_r_finger_tip_gazebo_ros_bumper_controller">
        <alwaysOn>true</alwaysOn>
        <frameName>r_gripper_r_finger_tip_link</frameName>
        <updateRate>100.0</updateRate>
        <bumperTopicName>r_gripper_r_finger_tip_bumper</bumperTopicName>
      </plugin>
    </sensor>
    <mu1 value="500.0"/>
    <mu2 value="500.0"/>
    <kp value="10000000.0"/>
    <kd value="1.0"/>
  </gazebo>
  <gazebo>
    <plugin filename="libgazebo_ros_p3d.so" name="p3d_r_gripper_l_finger_controller">
      <alwaysOn>true</alwaysOn>
      <updateRate>100.0</updateRate>
      <bodyName>r_gripper_l_finger_link</bodyName>
      <topicName>r_gripper_l_finger_pose_ground_truth</topicName>
      <gaussianNoise>0.0</gaussianNoise>
      <frameName>base_link</frameName>
    </plugin>
    <plugin filename="libgazebo_ros_f3d.so" name="f3d_r_gripper_l_finger_controller">
      <alwaysOn>true</alwaysOn>
      <updateRate>100.0</updateRate>
      <bodyName>r_gripper_l_finger_link</bodyName>
      <topicName>r_gripper_l_finger_force_ground_truth</topicName>
      <frameName>r_gripper_l_finger_link</frameName>
    </plugin>
  </gazebo>
  <gazebo reference="r_gripper_r_finger_tip_joint">
    <stopKd value="1.0"/>
    <stopKp value="10000000.0"/>
    <fudgeFactor value="1.0"/>
    <provideFeedback value="true"/>
  </gazebo>
  <gazebo>
    <link name="r_gripper_l_parallel_link">
      <inertial>
        <mass>0.17126</mass>
        <inertia>
          <ixx>7.7562e-05</ixx>
          <ixy>1.49095e-06</ixy>
          <ixz>-9.83385e-06</ixz>
          <iyy>0.000197083</iyy>
          <iyz>-3.06125e-06</iyz>
          <izz>0.000181054</izz>
        </inertia>
        <pose>0.03598 0.0173 -0.00164 0 0 0</pose>
      </inertial>
      <pose>0.82991 -0.157 0.790675 0 -0 0</pose>
      <gravity>false</gravity>
    </link>
    <link name="r_gripper_r_parallel_link">
      <inertial>
        <mass>0.17389</mass>
        <inertia>
          <ixx>7.73841e-05</ixx>
          <ixy>-2.09309e-06</ixy>
          <ixz>-8.36228e-06</ixz>
          <iyy>0.000198474</iyy>
          <iyz>2.4611e-06</iyz>
          <izz>0.00018107</izz>
        </inertia>
        <pose>0.03576 -0.01736 -0.00095 0 0 0</pose>
      </inertial>
      <pose>0.82991 -0.219 0.790675 0 0 0</pose>
      <gravity>false</gravity>
    </link>
  </gazebo>
  <gazebo>
    <joint name="r_gripper_r_screw_screw_joint" type="screw">
      <child>r_gripper_motor_screw_link</child>
      <parent>r_gripper_r_finger_tip_link</parent>
      <thread_pitch>-3141.6</thread_pitch>
      <axis>
        <xyz>0 1 0</xyz>
      </axis>
    </joint>
    <joint name="r_gripper_l_screw_screw_joint" type="screw">
      <parent>r_gripper_l_finger_tip_link</parent>
      <child>r_gripper_motor_screw_link</child>
      <thread_pitch>3141.6</thread_pitch>
      <axis>
        <xyz>0 1 0</xyz>
      </axis>
    </joint>
  </gazebo>
  <gazebo>
    <joint name="r_gripper_r_parallel_root_joint" type="revolute">
      <parent>r_gripper_r_parallel_link</parent>
      <child>r_gripper_palm_link</child>
      <axis>
        <xyz>0 0 -1</xyz>
        <dynamics>
          <damping>0.2</damping>
        </dynamics>
      </axis>
      <pose>0.05891 -0.031 0 0 0 0</pose>
    </joint>
    <joint name="r_gripper_l_parallel_root_joint" type="revolute">
      <parent>r_gripper_l_parallel_link</parent>
      <child>r_gripper_palm_link</child>
      <axis>
        <xyz>0 0 1</xyz>
        <dynamics>
          <damping>0.2</damping>
        </dynamics>
      </axis>
      <pose>0.05891 0.031 0 0 0 0</pose>
    </joint>
    <joint name="r_gripper_r_parallel_tip_joint" type="revolute">
      <parent>r_gripper_r_parallel_link</parent>
      <child>r_gripper_r_finger_tip_link</child>
      <axis>
        <xyz>0 0 1</xyz>
      </axis>
      <pose>-0.018 -0.021 0 0 0 0</pose>
    </joint>
    <joint name="r_gripper_l_parallel_tip_joint" type="revolute">
      <parent>r_gripper_l_parallel_link</parent>
      <child>r_gripper_l_finger_tip_link</child>
      <axis>
        <xyz>0 0 1</xyz>
      </axis>
      <pose>-0.018 0.021 0 0 0 0</pose>
    </joint>
    <joint name="r_gripper_joint" type="prismatic">
      <parent>r_gripper_r_finger_tip_link</parent>
      <child>r_gripper_l_finger_tip_link</child>
      <axis>
        <xyz>0 1 0</xyz>
      </axis>
    </joint>
  </gazebo>
  <gazebo reference="r_gripper_motor_slider_link">
    <turnGravityOff>true</turnGravityOff>
    <material value="PR2/Red"/>
  </gazebo>
  <gazebo reference="r_gripper_motor_screw_link">
    <turnGravityOff>true</turnGravityOff>
    <material value="PR2/Red"/>
  </gazebo>
  <gazebo reference="r_gripper_l_parallel_link">
    <turnGravityOff>true</turnGravityOff>
    <material value="PR2/Red"/>
  </gazebo>
  <gazebo reference="r_gripper_r_parallel_link">
    <turnGravityOff>true</turnGravityOff>
    <material value="PR2/Red"/>
  </gazebo>
  <gazebo reference="r_gripper_palm_link">
    <turnGravityOff>true</turnGravityOff>
  </gazebo>
  <gazebo>
    <plugin filename="libgazebo_ros_p3d.so" name="p3d_r_gripper_palm_controller">
      <alwaysOn>true</alwaysOn>
      <updateRate>100.0</updateRate>
      <bodyName>r_gripper_palm_link</bodyName>
      <topicName>r_gripper_palm_pose_ground_truth</topicName>
      <xyzOffsets>0 0 0</xyzOffsets>
      <rpyOffsets>0 0 0</rpyOffsets>
      <gaussianNoise>0.0</gaussianNoise>
      <frameName>map</frameName>
    </plugin>
    <gripper name="r_grasp_hack">
      <grasp_check attach_steps="20" detach_steps="40" min_contact_count="2"/>
      <gripper_link>r_gripper_r_finger_tip_link</gripper_link>
      <gripper_link>r_gripper_l_finger_tip_link</gripper_link>
      <palm_link>r_gripper_palm_link</palm_link>
    </gripper>
  </gazebo>
  <transmission name="r_gripper_trans" type="pr2_mechanism_model/PR2GripperTransmission">
    <actuator name="r_gripper_motor"/>
    <gap_joint L0="0.0375528" a="0.0683698" b="0.0433849" gear_ratio="40.095" h="0.0" mechanical_reduction="1.0" name="r_gripper_joint" phi0="0.518518122146" r="0.0915" screw_reduction="0.004" t0="-0.0001914" theta0="0.0628824676201"/>
    <use_simulated_gripper_joint/>
    <passive_joint name="r_gripper_l_finger_joint"/>
    <passive_joint name="r_gripper_r_finger_joint"/>
    <passive_joint name="r_gripper_r_finger_tip_joint"/>
    <passive_joint name="r_gripper_l_finger_tip_joint"/>
    <simulated_actuated_joint name="r_gripper_motor_screw_joint" passive_actuated_joint="r_gripper_motor_slider_joint" simulated_reduction="3141.6"/>
  </transmission>
  <joint name="l_shoulder_pan_joint" type="revolute">
    <parent link="torso_lift_link"/>
    <child link="l_shoulder_pan_link"/>
    <origin rpy="0 0 0" xyz="0 0.188 0"/>
    <axis xyz="0 0 1"/>
    <limit effort="30" lower="-0.714601836603" upper="2.2853981634" velocity="2.088"/>
    <dynamics damping="10.0"/>
    <safety_controller k_position="100" k_velocity="10" soft_lower_limit="-0.564601836603" soft_upper_limit="2.1353981634"/>
    <calibration rising="0.81720110078"/>
  </joint>
  <link name="l_shoulder_pan_link">
    <inertial>
      <mass value="25.799322"/>
      <origin rpy="0 0 0" xyz="-0.001201 0.024513 -0.098231"/>
      <inertia ixx="0.86617914248" ixy="-0.06086507933" ixz="-0.12118061183" iyy="0.87421714893" iyz="-0.05886609911" izz="0.27353821674"/>
    </inertial>
    <visual>
      <origin rpy="0 0 0" xyz="0 0 0"/>
      <geometry>
        <box size="0.05 0.05 0.05"/>
      </geometry>
      <material name="Blue"/>
    </visual>
    <collision>
      <origin rpy="0 0 0" xyz="0 0 0"/>
      <geometry>
        <box size="0.05 0.05 0.05"/>
      </geometry>
    </collision>
  </link>
  <joint name="l_shoulder_lift_joint" type="revolute">
    <parent link="l_shoulder_pan_link"/>
    <child link="l_shoulder_lift_link"/>
    <origin rpy="0 0 0" xyz="0.1 0 0"/>
    <axis xyz="0 1 0"/>
    <limit effort="30" lower="-0.5236" upper="1.3963" velocity="2.082"/>
    <dynamics damping="10.0"/>
    <safety_controller k_position="100" k_velocity="10" soft_lower_limit="-0.3536" soft_upper_limit="1.2963"/>
    <calibration falling="-0.007152841705"/>
  </joint>
  <link name="l_shoulder_lift_link">
    <inertial>
      <mass value="2.74988"/>
      <origin rpy="0 0 0" xyz="0.02195 -0.02664 -0.03127"/>
      <inertia ixx="0.02105584615" ixy="0.00496704022" ixz="-0.00194808955" iyy="0.02127223737" iyz="0.0011042549" izz="0.01975753814"/>
    </inertial>
    <visual>
      <origin rpy="0 0 0" xyz="0 0 0"/>
      <geometry>
        <box size="0.05 0.05 0.05"/>
      </geometry>
      <material name="Grey"/>
    </visual>
    <collision>
      <origin rpy="0 0 0" xyz="0 0 0"/>
      <geometry>
        <box size="0.05 0.05 0.05"/>
      </geometry>
    </collision>
  </link>
  <joint name="l_upper_arm_roll_joint" type="revolute">
    <parent link="l_shoulder_lift_link"/>
    <child link="l_upper_arm_roll_link"/>
    <origin rpy="0 0 0" xyz="0 0 0"/>
    <axis xyz="1 0 0"/>
    <limit effort="30" lower="-0.8" upper="3.9" velocity="3.27"/>
    <dynamics damping="0.1"/>
    <safety_controller k_position="100" k_velocity="2" soft_lower_limit="-0.65" soft_upper_limit="3.75"/>
    <calibration rising="1.577309989351"/>
  </joint>
  <link name="l_upper_arm_roll_link">
    <inertial>
      <mass value="0.1"/>
      <origin rpy="0 0 0" xyz="0 0 0"/>
      <inertia ixx="0.01" ixy="0" ixz="0" iyy="0.01" iyz="0" izz="0.01"/>
    </inertial>
    <visual>
      <origin rpy="0 0 0" xyz="0 0 0"/>
      <geometry>
        <box size="0.05 0.05 0.05"/>
      </geometry>
      <material name="RollLinks"/>
    </visual>
    <collision>
      <origin rpy="0 0 0" xyz="0 0 0"/>
      <geometry>
        <box size="0.05 0.05 0.05"/>
      </geometry>
    </collision>
  </link>
  <gazebo reference="l_upper_arm_roll_link">
    <material value="PR2/RollLinks"/>
    <turnGravityOff>true</turnGravityOff>
  </gazebo>
  <gazebo reference="l_upper_arm_roll_joint">
    <stopKd value="1.0"/>
    <stopKp value="1000000.0"/>
    <fudgeFactor value="0.5"/>
  </gazebo>
  <transmission name="l_upper_arm_roll_trans" type="pr2_mechanism_model/SimpleTransmission">
    <actuator name="l_upper_arm_roll_motor"/>
    <joint name="l_upper_arm_roll_joint"/>
    <mechanicalReduction>32.6525111499</mechanicalReduction>
  </transmission>
  <gazebo reference="l_shoulder_pan_link">
    <turnGravityOff>true</turnGravityOff>
  </gazebo>
  <gazebo reference="l_shoulder_pan_joint">
    <stopKd value="1.0"/>
    <stopKp value="1000000.0"/>
  </gazebo>
  <gazebo reference="l_shoulder_lift_link">
    <turnGravityOff>true</turnGravityOff>
  </gazebo>
  <gazebo reference="l_shoulder_lift_joint">
    <stopKd value="1.0"/>
    <stopKp value="1000000.0"/>
  </gazebo>
  <transmission name="l_shoulder_pan_trans" type="pr2_mechanism_model/SimpleTransmission">
    <actuator name="l_shoulder_pan_motor"/>
    <joint name="l_shoulder_pan_joint"/>
    <mechanicalReduction>63.1552452977</mechanicalReduction>
    <compensator k_belt="4000.0" kd_motor="15.0" lambda_combined="0.0" lambda_joint="40.0" lambda_motor="40.0" mass_motor="0.05"/>
  </transmission>
  <transmission name="l_shoulder_lift_trans" type="pr2_mechanism_model/SimpleTransmission">
    <actuator name="l_shoulder_lift_motor"/>
    <joint name="l_shoulder_lift_joint"/>
    <mechanicalReduction>61.8948225713</mechanicalReduction>
    <compensator k_belt="4000.0" kd_motor="10.0" lambda_combined="0.0" lambda_joint="60.0" lambda_motor="60.0" mass_motor="0.05"/>
  </transmission>
  <joint name="l_upper_arm_joint" type="fixed">
    <parent link="l_upper_arm_roll_link"/>
    <child link="l_upper_arm_link"/>
    <origin rpy="0 0 0" xyz="0 0 0"/>
  </joint>
  <link name="l_upper_arm_link">
    <inertial>
      <mass value="6.01769"/>
      <origin xyz="0.21405 0.01658 -0.00057"/>
      <inertia ixx="0.01530603856" ixy="-0.00339324862" ixz="0.00060765455" iyy="0.07473694455" iyz="-0.00019953729" izz="0.07601594191"/>
    </inertial>
    <visual>
      <origin rpy="0 0 0" xyz="0 0 0"/>
      <geometry>
        <box size="0.05 0.05 0.05"/>
      </geometry>
      <material name="Green"/>
    </visual>
    <collision>
      <origin rpy="0 0 0" xyz="0 0 0"/>
      <geometry>
        <box size="0.05 0.05 0.05"/>
      </geometry>
    </collision>
  </link>
  <gazebo reference="l_upper_arm_link">
    <turnGravityOff>true</turnGravityOff>
  </gazebo>
  <joint name="l_forearm_roll_joint" type="continuous">
    <parent link="l_elbow_flex_link"/>
    <child link="l_forearm_roll_link"/>
    <origin rpy="0 0 0" xyz="0 0 0"/>
    <axis xyz="1 0 0"/>
    <limit effort="30" velocity="3.6"/>
    <dynamics damping="0.1"/>
    <safety_controller k_velocity="1"/>
    <calibration rising="0.048363807586"/>
  </joint>
  <link name="l_forearm_roll_link">
    <inertial>
      <mass value="0.1"/>
      <origin xyz="0 0 0"/>
      <inertia ixx="0.01" ixy="0" ixz="0" iyy="0.01" iyz="0" izz="0.01"/>
    </inertial>
    <visual>
      <origin rpy="0 0 0" xyz="0 0 0"/>
      <geometry>
        <box size="0.05 0.05 0.05"/>
      </geometry>
      <material name="RollLinks"/>
    </visual>
    <collision>
      <origin rpy="0 0 0" xyz="0 0 0"/>
      <geometry>
        <box size="0.05 0.05 0.05"/>
      </geometry>
    </collision>
  </link>
  <gazebo reference="l_forearm_roll_link">
    <material value="PR2/RollLinks"/>
    <turnGravityOff>true</turnGravityOff>
  </gazebo>
  <gazebo reference="l_forearm_roll_joint">
    <fudgeFactor value="0.5"/>
  </gazebo>
  <transmission name="l_forearm_roll_trans" type="pr2_mechanism_model/SimpleTransmission">
    <actuator name="l_forearm_roll_motor"/>
    <joint name="l_forearm_roll_joint"/>
    <mechanicalReduction>-90.5142857143</mechanicalReduction>
  </transmission>
  <joint name="l_elbow_flex_joint" type="revolute">
    <parent link="l_upper_arm_link"/>
    <child link="l_elbow_flex_link"/>
    <origin rpy="0 0 0" xyz="0.4 0 0"/>
    <axis xyz="0 1 0"/>
    <limit effort="30" lower="-2.3213" upper="0" velocity="3.3"/>
    <dynamics damping="1.0"/>
    <safety_controller k_position="100" k_velocity="3" soft_lower_limit="-2.1213" soft_upper_limit="-0.15"/>
    <calibration falling="-1.1606"/>
  </joint>
  <link name="l_elbow_flex_link">
    <inertial>
      <mass value="1.90327"/>
      <origin xyz="0.01014 0.00032 -0.01211"/>
      <inertia ixx="0.00346541989" ixy="0.00004066825" ixz="0.00043171614" iyy="0.00441606455" iyz="-0.00003968914" izz="0.00359156824"/>
    </inertial>
    <visual>
      <origin rpy="0 0 0" xyz="0 0 0"/>
      <geometry>
        <box size="0.05 0.05 0.05"/>
      </geometry>
      <material name="Grey"/>
    </visual>
    <collision>
      <origin rpy="0 0 0" xyz="0 0 0"/>
      <geometry>
        <box size="0.05 0.05 0.05"/>
      </geometry>
    </collision>
  </link>
  <gazebo reference="l_elbow_flex_joint">
    <initial_joint_position>-1.0</initial_joint_position>
  </gazebo>
  <gazebo reference="l_elbow_flex_link">
    <turnGravityOff>true</turnGravityOff>
  </gazebo>
  <gazebo reference="l_elbow_flex_joint">
    <stopKd value="1.0"/>
    <stopKp value="1000000.0"/>
  </gazebo>
  <transmission name="l_elbow_flex_trans" type="pr2_mechanism_model/SimpleTransmission">
    <actuator name="l_elbow_flex_motor"/>
    <joint name="l_elbow_flex_joint"/>
    <mechanicalReduction>-36.167452007</mechanicalReduction>
  </transmission>
  <joint name="l_forearm_joint" type="fixed">
    <parent link="l_forearm_roll_link"/>
    <child link="l_forearm_link"/>
    <origin rpy="0 0 0" xyz="0 0 0"/>
  </joint>
  <link name="l_forearm_link">
    <inertial>
      <mass value="2.57968"/>
      <origin xyz="0.18791 -0.00017 -0.00912"/>
      <inertia ixx="0.00364857222" ixy="0.00005215877" ixz="0.00071534842" iyy="0.01507736897" iyz="-0.0000131077" izz="0.01659310749"/>
    </inertial>
    <visual>
      <origin rpy="0 0 0" xyz="0 0 0"/>
      <geometry>
        <box size="0.05 0.05 0.05"/>
      </geometry>
      <material name="Grey"/>
    </visual>
    <collision>
      <origin rpy="0 0 0" xyz="0 0 0"/>
      <geometry>
        <box size="0.05 0.05 0.05"/>
      </geometry>
    </collision>
  </link>
  <joint name="l_wrist_flex_joint" type="revolute">
    <parent link="l_forearm_link"/>
    <child link="l_wrist_flex_link"/>
    <origin rpy="0 0 0" xyz="0.321 0 0"/>
    <axis xyz="0 1 0"/>
    <limit effort="10" lower="-2.18" upper="0" velocity="3.078"/>
    <dynamics damping="0.1"/>
    <safety_controller k_position="20" k_velocity="4" soft_lower_limit="-2" soft_upper_limit="-0.1"/>
    <calibration falling="-0.539096849885"/>
  </joint>
  <link name="l_wrist_flex_link">
    <inertial>
      <mass value="0.61402"/>
      <origin xyz="-0.00157 0 -0.00075"/>
      <inertia ixx="0.00065165722" ixy="0.00000028864" ixz="0.00000303477" iyy="0.00019824443" iyz="-0.00000022645" izz="0.00064450498"/>
    </inertial>
    <visual>
      <origin rpy="0 0 0" xyz="0 0 0"/>
      <geometry>
        <box size="0.05 0.05 0.05"/>
      </geometry>
      <material name="Grey"/>
    </visual>
    <collision>
      <origin rpy="0 0 0" xyz="0 0 0"/>
      <geometry>
        <box size="0.05 0.05 0.05"/>
      </geometry>
    </collision>
  </link>
  <joint name="l_wrist_roll_joint" type="continuous">
    <parent link="l_wrist_flex_link"/>
    <child link="l_wrist_roll_link"/>
    <origin rpy="0 0 0" xyz="0 0 0"/>
    <axis xyz="1 0 0"/>
    <limit effort="10" velocity="3.6"/>
    <dynamics damping="0.1"/>
    <safety_controller k_velocity="2"/>
    <calibration rising="-1.493019036847"/>
  </joint>
  <link name="l_wrist_roll_link">
    <inertial>
      <mass value="0.1"/>
      <origin xyz="0 0 0"/>
      <inertia ixx="0.01" ixy="0" ixz="0" iyy="0.01" iyz="0" izz="0.01"/>
    </inertial>
    <visual>
      <origin rpy="0 0 0" xyz="0 0 0"/>
      <geometry>
        <box size="0.05 0.05 0.05"/>
      </geometry>
      <material name="RollLinks"/>
    </visual>
    <collision>
      <origin rpy="0 0 0" xyz="0 0 0"/>
      <geometry>
        <box size="0.05 0.05 0.05"/>
      </geometry>
    </collision>
  </link>
  <gazebo reference="l_forearm_link">
    <turnGravityOff>true</turnGravityOff>
  </gazebo>
  <gazebo reference="l_wrist_flex_link">
    <turnGravityOff>true</turnGravityOff>
  </gazebo>
  <gazebo reference="l_wrist_flex_joint">
    <stopKd value="1.0"/>
    <stopKp value="1000000.0"/>
  </gazebo>
  <gazebo reference="l_wrist_roll_link">
    <turnGravityOff>true</turnGravityOff>
    <material value="PR2/RollLinks"/>
  </gazebo>
  <gazebo reference="l_wrist_roll_joint">
    <fudgeFactor value="0.5"/>
  </gazebo>
  <transmission name="l_wrist_trans" type="pr2_mechanism_model/WristTransmission">
    <rightActuator mechanicalReduction="60.1714285714" name="l_wrist_r_motor"/>
    <leftActuator mechanicalReduction="60.1714285714" name="l_wrist_l_motor"/>
    <flexJoint mechanicalReduction="-1.0" name="l_wrist_flex_joint"/>
    <rollJoint mechanicalReduction="1.0" name="l_wrist_roll_joint" offset="1.4835298641951802"/>
  </transmission>
  <joint name="l_force_torque_adapter_joint" type="fixed">
    <parent link="l_wrist_roll_link"/>
    <child link="l_force_torque_adapter_link"/>
    <origin rpy="0 -1.570796326795 0" xyz="0.0356 0 0"/>
  </joint>
  <link name="l_force_torque_adapter_link"/>
  <joint name="l_force_torque_joint" type="fixed">
    <parent link="l_force_torque_adapter_link"/>
    <child link="l_force_torque_link"/>
    <origin rpy="0 0 1.221730476396" xyz="0 0 0"/>
  </joint>
  <link name="l_force_torque_link">
    <visual>
      <origin rpy="0 0 0" xyz="0 0 -0.012"/>
      <geometry>
        <cylinder length="0.0356" radius="0.0225"/>
      </geometry>
      <material name="Grey"/>
    </visual>
    <collision>
      <origin rpy="0 0 0" xyz="0 0 -0.012"/>
      <geometry>
        <cylinder length="0.0356" radius="0.0225"/>
      </geometry>
      <material name="Grey"/>
    </collision>
  </link>
  <joint name="l_gripper_palm_joint" type="fixed">
    <parent link="l_force_torque_link"/>
    <child link="l_gripper_palm_link"/>
    <origin rpy="0 1.570796326795 -1.221730476396" xyz="0 0 0"/>
  </joint>
  <link name="l_gripper_palm_link">
    <inertial>
      <mass value="0.58007"/>
      <origin rpy="0 0 0" xyz="0.06623 0.00053 -0.00119"/>
      <inertia ixx="0.00035223921" ixy="-0.00001580476" ixz="-0.0000009175" iyy="0.00067741312" iyz="-0.00000059554" izz="0.00086563316"/>
    </inertial>
    <visual>
      <origin rpy="0 0 0" xyz="0 0 0"/>
      <geometry>
        <box size="0.05 0.05 0.05"/>
      </geometry>
      <material name="Red"/>
    </visual>
    <collision>
      <origin rpy="0 0 0" xyz="0 0 0"/>
      <geometry>
        <box size="0.05 0.05 0.05"/>
      </geometry>
    </collision>
  </link>
  <joint name="l_gripper_led_joint" type="fixed">
    <parent link="l_gripper_palm_link"/>
    <child link="l_gripper_led_frame"/>
    <origin rpy="0 0 0" xyz="0.0513 0 0.0244"/>
  </joint>
  <link name="l_gripper_led_frame"/>
  <joint name="l_gripper_motor_accelerometer_joint" type="fixed">
    <parent link="l_gripper_palm_link"/>
    <child link="l_gripper_motor_accelerometer_link"/>
    <origin rpy="0 0 0" xyz="0 0 0"/>
  </joint>
  <link name="l_gripper_motor_accelerometer_link"/>
  <joint name="l_gripper_tool_joint" type="fixed">
    <parent link="l_gripper_palm_link"/>
    <child link="l_gripper_tool_frame"/>
    <origin rpy="0 0 0" xyz="0.18 0 0"/>
  </joint>
  <link name="l_gripper_tool_frame"/>
  <link name="l_gripper_motor_slider_link">
    <inertial>
      <mass value="0.01"/>
      <origin rpy="0 0 0" xyz="0 0 0"/>
      <inertia ixx="0.001" ixy="0" ixz="0" iyy="0.001" iyz="0" izz="0.001"/>
    </inertial>
  </link>
  <joint name="l_gripper_motor_slider_joint" type="prismatic">
    <parent link="l_gripper_palm_link"/>
    <child link="l_gripper_motor_slider_link"/>
    <origin rpy="0 0 0" xyz="0.16828 0 0"/>
    <axis xyz="1 0 0"/>
    <limit effort="1000" lower="-0.1" upper="0.1" velocity="0.2"/>
  </joint>
  <link name="l_gripper_motor_screw_link">
    <inertial>
      <mass value="0.01"/>
      <origin rpy="0 0 0" xyz="0 0 0"/>
      <inertia ixx="0.0001" ixy="0" ixz="0" iyy="0.0001" iyz="0" izz="0.0001"/>
    </inertial>
  </link>
  <joint name="l_gripper_motor_screw_joint" type="continuous">
    <parent link="l_gripper_motor_slider_link"/>
    <child link="l_gripper_motor_screw_link"/>
    <origin rpy="0 0 0" xyz="0 0 0"/>
    <axis xyz="0 1 0"/>
    <dynamics damping="0.0001"/>
  </joint>
  <joint name="l_gripper_l_finger_joint" type="revolute">
    <parent link="l_gripper_palm_link"/>
    <child link="l_gripper_l_finger_link"/>
    <origin rpy="0 0 0" xyz="0.07691 0.01 0"/>
    <axis xyz="0 0 1"/>
    <limit effort="1000" lower="0" upper="0.548" velocity="0.5"/>
    <dynamics damping="0.02"/>
  </joint>
  <link name="l_gripper_l_finger_link">
    <inertial>
      <mass value="0.17126"/>
      <origin rpy="0 0 0" xyz="0.03598 0.0173 -0.00164"/>
      <inertia ixx="0.00007756198" ixy="0.00000149095" ixz="-0.00000983385" iyy="0.00019708305" iyz="-0.00000306125" izz="0.00018105446"/>
    </inertial>
    <visual>
      <origin rpy="0 0 0" xyz="0 0 0"/>
      <geometry>
        <box size="0.05 0.05 0.05"/>
      </geometry>
      <material name="Grey"/>
    </visual>
    <collision>
      <origin rpy="0 0 0" xyz="0 0 0"/>
      <geometry>
        <box size="0.05 0.05 0.05"/>
      </geometry>
    </collision>
  </link>
  <link name="l_gripper_r_finger_link">
    <inertial>
      <mass value="0.17389"/>
      <origin rpy="0 0 0" xyz="0.03576 -0.01736 -0.00095"/>
      <inertia ixx="0.0000773841" ixy="-0.00000209309" ixz="-0.00000836228" iyy="0.00019847383" iyz="0.0000024611" izz="0.00018106988"/>
    </inertial>
    <visual>
      <origin rpy="3.14159265359 0 0" xyz="0 0 0"/>
      <geometry>
        <box size="0.05 0.05 0.05"/>
      </geometry>
      <material name="Grey"/>
    </visual>
    <collision>
      <origin rpy="3.14159265359 0 0" xyz="0 0 0"/>
      <geometry>
        <box size="0.05 0.05 0.05"/>
      </geometry>
    </collision>
  </link>
  <joint name="l_gripper_l_finger_tip_joint" type="revolute">
    <parent link="l_gripper_l_finger_link"/>
    <child link="l_gripper_l_finger_tip_link"/>
    <origin rpy="0 0 0" xyz="0.09137 0.00495 0"/>
    <axis xyz="0 0 -1"/>
    <limit effort="1000" lower="0" upper="0.548" velocity="0.5"/>
    <mimic joint="l_gripper_l_finger_joint" multiplier="1" offset="0"/>
    <dynamics damping="0.001"/>
  </joint>
  <link name="l_gripper_l_finger_tip_link">
    <inertial>
      <mass value="0.04419"/>
      <origin rpy="0 0 0" xyz="0.00423 0.00284 0"/>
      <inertia ixx="0.00000837047" ixy="0.00000583632" ixz="0" iyy="0.00000987067" iyz="0" izz="0.00001541768"/>
    </inertial>
    <visual>
      <origin rpy="0 0 0" xyz="0 0 0"/>
      <geometry>
        <box size="0.05 0.05 0.05"/>
      </geometry>
      <material name="Green"/>
    </visual>
    <collision>
      <origin rpy="0 0 0" xyz="0 0 0"/>
      <geometry>
        <box size="0.05 0.05 0.05"/>
      </geometry>
    </collision>
  </link>
  <joint name="l_gripper_r_finger_tip_joint" type="revolute">
    <parent link="l_gripper_r_finger_link"/>
    <child link="l_gripper_r_finger_tip_link"/>
    <origin rpy="0 0 0" xyz="0.09137 -0.00495 0"/>
    <axis xyz="0 0 1"/>
    <limit effort="1000" lower="0" upper="0.548" velocity="0.5"/>
    <mimic joint="l_gripper_l_finger_joint" multiplier="1" offset="0"/>
    <dynamics damping="0.001"/>
  </joint>
  <link name="l_gripper_r_finger_tip_link">
    <inertial>
      <mass value="0.04419"/>
      <origin rpy="0 0 0" xyz="0.00423 -0.00284 0"/>
      <inertia ixx="0.00000837047" ixy="-0.00000583632" ixz="0" iyy="0.00000987067" iyz="0" izz="0.00001541768"/>
    </inertial>
    <visual>
      <origin rpy="3.14159265359 0 0" xyz="0 0 0"/>
      <geometry>
        <box size="0.05 0.05 0.05"/>
      </geometry>
      <material name="Green"/>
    </visual>
    <collision>
      <origin rpy="3.14159265359 0 0" xyz="0 0 0"/>
      <geometry>
        <box size="0.05 0.05 0.05"/>
      </geometry>
    </collision>
  </link>
  <gazebo reference="l_gripper_l_finger_link">
    <turnGravityOff>true</turnGravityOff>
    <mu1 value="500.0"/>
    <mu2 value="500.0"/>
    <kp value="1000000.0"/>
    <kd value="1.0"/>
  </gazebo>
  <gazebo reference="l_gripper_l_finger_joint">
    <stopKd value="1.0"/>
    <stopKp value="10000000.0"/>
    <fudgeFactor value="1.0"/>
    <provideFeedback value="true"/>
  </gazebo>
  <gazebo reference="l_gripper_r_finger_link">
    <turnGravityOff>true</turnGravityOff>
    <mu1 value="500.0"/>
    <mu2 value="500.0"/>
    <kp value="1000000.0"/>
    <kd value="1.0"/>
  </gazebo>
  <gazebo reference="l_gripper_r_finger_joint">
    <stopKd value="1.0"/>
    <stopKp value="10000000.0"/>
    <fudgeFactor value="1.0"/>
    <provideFeedback value="true"/>
  </gazebo>
  <gazebo reference="l_gripper_l_finger_tip_link">
    <turnGravityOff>true</turnGravityOff>
    <selfCollide>false</selfCollide>
    <sensor name="l_gripper_l_finger_tip_contact_sensor" type="contact">
      <update_rate>100.0</update_rate>
      <contact>
        <collision>l_gripper_l_finger_tip_link_geom</collision>
      </contact>
      <plugin filename="libgazebo_ros_bumper.so" name="l_gripper_l_finger_tip_gazebo_ros_bumper_controller">
        <alwaysOn>true</alwaysOn>
        <frameName>l_gripper_l_finger_tip_link</frameName>
        <updateRate>100.0</updateRate>
        <bumperTopicName>l_gripper_l_finger_tip_bumper</bumperTopicName>
      </plugin>
    </sensor>
    <mu1 value="500.0"/>
    <mu2 value="500.0"/>
    <kp value="10000000.0"/>
    <kd value="1.0"/>
  </gazebo>
  <gazebo reference="l_gripper_l_finger_tip_joint">
    <stopKd value="1.0"/>
    <stopKp value="10000000.0"/>
    <fudgeFactor value="1.0"/>
    <provideFeedback value="true"/>
  </gazebo>
  <gazebo reference="l_gripper_r_finger_tip_link">
    <turnGravityOff>true</turnGravityOff>
    <selfCollide>false</selfCollide>
    <sensor name="l_gripper_r_finger_tip_contact_sensor" type="contact">
      <update_rate>100.0</update_rate>
      <contact>
        <collision>l_gripper_r_finger_tip_link_geom</collision>
      </contact>
      <plugin filename="libgazebo_ros_bumper.so" name="l_gripper_r_finger_tip_gazebo_ros_bumper_controller">
        <alwaysOn>true</alwaysOn>
        <frameName>l_gripper_r_finger_tip_link</frameName>
        <updateRate>100.0</updateRate>
        <bumperTopicName>l_gripper_r_finger_tip_bumper</bumperTopicName>
      </plugin>
    </sensor>
    <mu1 value="500.0"/>
    <mu2 value="500.0"/>
    <kp value="10000000.0"/>
    <kd value="1.0"/>
  </gazebo>
  <gazebo>
    <plugin filename="libgazebo_ros_p3d.so" name="p3d_l_gripper_l_finger_controller">
      <alwaysOn>true</alwaysOn>
      <updateRate>100.0</updateRate>
      <bodyName>l_gripper_l_finger_link</bodyName>
      <topicName>l_gripper_l_finger_pose_ground_truth</topicName>
      <gaussianNoise>0.0</gaussianNoise>
      <frameName>base_link</frameName>
    </plugin>
    <plugin filename="libgazebo_ros_f3d.so" name="f3d_l_gripper_l_finger_controller">
      <alwaysOn>true</alwaysOn>
      <updateRate>100.0</updateRate>
      <bodyName>l_gripper_l_finger_link</bodyName>
      <topicName>l_gripper_l_finger_force_ground_truth</topicName>
      <frameName>l_gripper_l_finger_link</frameName>
    </plugin>
  </gazebo>
  <gazebo reference="l_gripper_r_finger_tip_joint">
    <stopKd value="1.0"/>
    <stopKp value="10000000.0"/>
    <fudgeFactor value="1.0"/>
    <provideFeedback value="true"/>
  </gazebo>
  <gazebo>
    <link name="l_gripper_l_parallel_link">
      <inertial>
        <mass>0.17126</mass>
        <inertia>
          <ixx>7.7562e-05</ixx>
          <ixy>1.49095e-06</ixy>
          <ixz>-9.83385e-06</ixz>
          <iyy>0.000197083</iyy>
          <iyz>-3.06125e-06</iyz>
          <izz>0.000181054</izz>
        </inertia>
        <pose>0.03598 0.0173 -0.00164 0 0 0</pose>
      </inertial>
      <pose>0.82991 0.219 0.790675 0 -0 0</pose>
      <gravity>false</gravity>
    </link>
    <link name="l_gripper_r_parallel_link">
      <inertial>
        <mass>0.17389</mass>
        <inertia>
          <ixx>7.73841e-05</ixx>
          <ixy>-2.09309e-06</ixy>
          <ixz>-8.36228e-06</ixz>
          <iyy>0.000198474</iyy>
          <iyz>2.4611e-06</iyz>
          <izz>0.00018107</izz>
        </inertia>
        <pose>0.03576 -0.01736 -0.00095 0 0 0</pose>
      </inertial>
      <pose>0.82991 0.157 0.790675 0 0 0</pose>
      <gravity>false</gravity>
    </link>
  </gazebo>
  <gazebo>
    <joint name="l_gripper_r_screw_screw_joint" type="screw">
      <child>l_gripper_motor_screw_link</child>
      <parent>l_gripper_r_finger_tip_link</parent>
      <thread_pitch>-3141.6</thread_pitch>
      <axis>
        <xyz>0 1 0</xyz>
      </axis>
    </joint>
    <joint name="l_gripper_l_screw_screw_joint" type="screw">
      <parent>l_gripper_l_finger_tip_link</parent>
      <child>l_gripper_motor_screw_link</child>
      <thread_pitch>3141.6</thread_pitch>
      <axis>
        <xyz>0 1 0</xyz>
      </axis>
    </joint>
  </gazebo>
  <gazebo>
    <joint name="l_gripper_r_parallel_root_joint" type="revolute">
      <parent>l_gripper_r_parallel_link</parent>
      <child>l_gripper_palm_link</child>
      <axis>
        <xyz>0 0 -1</xyz>
        <dynamics>
          <damping>0.2</damping>
        </dynamics>
      </axis>
      <pose>0.05891 -0.031 0 0 0 0</pose>
    </joint>
    <joint name="l_gripper_l_parallel_root_joint" type="revolute">
      <parent>l_gripper_l_parallel_link</parent>
      <child>l_gripper_palm_link</child>
      <axis>
        <xyz>0 0 1</xyz>
        <dynamics>
          <damping>0.2</damping>
        </dynamics>
      </axis>
      <pose>0.05891 0.031 0 0 0 0</pose>
    </joint>
    <joint name="l_gripper_r_parallel_tip_joint" type="revolute">
      <parent>l_gripper_r_parallel_link</parent>
      <child>l_gripper_r_finger_tip_link</child>
      <axis>
        <xyz>0 0 1</xyz>
      </axis>
      <pose>-0.018 -0.021 0 0 0 0</pose>
    </joint>
    <joint name="l_gripper_l_parallel_tip_joint" type="revolute">
      <parent>l_gripper_l_parallel_link</parent>
      <child>l_gripper_l_finger_tip_link</child>
      <axis>
        <xyz>0 0 1</xyz>
      </axis>
      <pose>-0.018 0.021 0 0 0 0</pose>
    </joint>
    <joint name="l_gripper_joint" type="prismatic">
      <parent>l_gripper_r_finger_tip_link</parent>
      <child>l_gripper_l_finger_tip_link</child>
      <axis>
        <xyz>0 1 0</xyz>
      </axis>
    </joint>
  </gazebo>
  <gazebo reference="l_gripper_motor_slider_link">
    <turnGravityOff>true</turnGravityOff>
    <material value="PR2/Red"/>
  </gazebo>
  <gazebo reference="l_gripper_motor_screw_link">
    <turnGravityOff>true</turnGravityOff>
    <material value="PR2/Red"/>
  </gazebo>
  <gazebo reference="l_gripper_l_parallel_link">
    <turnGravityOff>true</turnGravityOff>
    <material value="PR2/Red"/>
  </gazebo>
  <gazebo reference="l_gripper_r_parallel_link">
    <turnGravityOff>true</turnGravityOff>
    <material value="PR2/Red"/>
  </gazebo>
  <gazebo reference="l_gripper_palm_link">
    <turnGravityOff>true</turnGravityOff>
  </gazebo>
  <gazebo>
    <plugin filename="libgazebo_ros_p3d.so" name="p3d_l_gripper_palm_controller">
      <alwaysOn>true</alwaysOn>
      <updateRate>100.0</updateRate>
      <bodyName>l_gripper_palm_link</bodyName>
      <topicName>l_gripper_palm_pose_ground_truth</topicName>
      <xyzOffsets>0 0 0</xyzOffsets>
      <rpyOffsets>0 0 0</rpyOffsets>
      <gaussianNoise>0.0</gaussianNoise>
      <frameName>map</frameName>
    </plugin>
    <gripper name="l_grasp_hack">
      <grasp_check attach_steps="20" detach_steps="40" min_contact_count="2"/>
      <gripper_link>l_gripper_r_finger_tip_link</gripper_link>
      <gripper_link>l_gripper_l_finger_tip_link</gripper_link>
      <palm_link>l_gripper_palm_link</palm_link>
    </gripper>
  </gazebo>
  <transmission name="l_gripper_trans" type="pr2_mechanism_model/PR2GripperTransmission">
    <actuator name="l_gripper_motor"/>
    <gap_joint L0="0.0375528" a="0.0683698" b="0.0433849" gear_ratio="40.095" h="0.0" mechanical_reduction="1.0" name="l_gripper_joint" phi0="0.518518122146" r="0.0915" screw_reduction="0.004" t0="-0.0001914" theta0="0.0628824676201"/>
    <use_simulated_gripper_joint/>
    <passive_joint name="l_gripper_l_finger_joint"/>
    <passive_joint name="l_gripper_r_finger_joint"/>
    <passive_joint name="l_gripper_r_finger_tip_joint"/>
    <passive_joint name="l_gripper_l_finger_tip_joint"/>
    <simulated_actuated_joint name="l_gripper_motor_screw_joint" passive_actuated_joint="l_gripper_motor_slider_joint" simulated_reduction="3141.6"/>
  </transmission>
  <joint name="l_forearm_cam_frame_joint" type="fixed">
    <parent link="l_forearm_roll_link"/>
    <child link="l_forearm_cam_frame"/>
    <origin rpy="-1.570660881614 -0.556339414268 0.008700049687" xyz="0.144227112237 -0.007018878517 0.035421631733"/>
  </joint>
  <link name="l_forearm_cam_frame">
    <inertial>
      <mass value="0.01"/>
      <origin xyz="0 0 0"/>
      <inertia ixx="0.001" ixy="0" ixz="0" iyy="0.001" iyz="0" izz="0.001"/>
    </inertial>
  </link>
  <joint name="l_forearm_cam_optical_frame_joint" type="fixed">
    <parent link="l_forearm_cam_frame"/>
    <child link="l_forearm_cam_optical_frame"/>
    <origin rpy="-1.57079632679 0 -1.57079632679" xyz="0 0 0"/>
  </joint>
  <link name="l_forearm_cam_optical_frame"/>
  <gazebo reference="l_forearm_cam_frame">
    <sensor name="l_forearm_cam_sensor" type="depth">
      <always_on>true</always_on>
      <update_rate>25.0</update_rate>
      <camera>
        <horizontal_fov>1.57079632679</horizontal_fov>
        <image>
          <format>R8G8B8</format>
          <width>640</width>
          <height>480</height>
        </image>
        <clip>
          <near>0.1</near>
          <far>100</far>
        </clip>
      </camera>
      <plugin filename="libgazebo_ros_depth_camera.so" name="l_forearm_cam_controller">
        <alwaysOn>true</alwaysOn>
        <updateRate>25.0</updateRate>
        <cameraName>l_forearm_cam</cameraName>
        <imageTopicName>image_raw</imageTopicName>
        <cameraInfoTopicName>camera_info</cameraInfoTopicName>
        <frameName>l_forearm_cam_optical_frame</frameName>
        <hackBaseline>0</hackBaseline>
        <CxPrime>320.5</CxPrime>
        <Cx>320.5</Cx>
        <Cy>240.5</Cy>
        <!-- image_width / (2*tan(hfov_radian /2)) -->
        <!-- 320 for wide and 772.55 for narrow stereo camera -->
        <focalLength>320</focalLength>
        <distortionK1>0.0</distortionK1>
        <distortionK2>0.0</distortionK2>
        <distortionK3>0.0</distortionK3>
        <distortionT1>0.0</distortionT1>
        <distortionT2>0.0</distortionT2>
      </plugin>
    </sensor>
    <turnGravityOff>true</turnGravityOff>
    <material>PR2/Blue</material>
  </gazebo>
  <joint name="r_forearm_cam_frame_joint" type="fixed">
    <parent link="r_forearm_roll_link"/>
    <child link="r_forearm_cam_frame"/>
    <origin rpy="1.569726130099 -0.540236735887 -0.022749929421" xyz="0.139183277238 0.002252222696 0.038145610345"/>
  </joint>
  <link name="r_forearm_cam_frame">
    <inertial>
      <mass value="0.01"/>
      <origin xyz="0 0 0"/>
      <inertia ixx="0.001" ixy="0" ixz="0" iyy="0.001" iyz="0" izz="0.001"/>
    </inertial>
  </link>
  <joint name="r_forearm_cam_optical_frame_joint" type="fixed">
    <parent link="r_forearm_cam_frame"/>
    <child link="r_forearm_cam_optical_frame"/>
    <origin rpy="-1.57079632679 0 -1.57079632679" xyz="0 0 0"/>
  </joint>
  <link name="r_forearm_cam_optical_frame"/>
  <gazebo reference="r_forearm_cam_frame">
    <sensor name="r_forearm_cam_sensor" type="depth">
      <always_on>true</always_on>
      <update_rate>25.0</update_rate>
      <camera>
        <horizontal_fov>1.57079632679</horizontal_fov>
        <image>
          <format>R8G8B8</format>
          <width>640</width>
          <height>480</height>
        </image>
        <clip>
          <near>0.1</near>
          <far>100</far>
        </clip>
      </camera>
      <plugin filename="libgazebo_ros_depth_camera.so" name="r_forearm_cam_controller">
        <alwaysOn>true</alwaysOn>
        <updateRate>25.0</updateRate>
        <cameraName>r_forearm_cam</cameraName>
        <imageTopicName>image_raw</imageTopicName>
        <cameraInfoTopicName>camera_info</cameraInfoTopicName>
        <frameName>r_forearm_cam_optical_frame</frameName>
        <hackBaseline>0</hackBaseline>
        <CxPrime>320.5</CxPrime>
        <Cx>320.5</Cx>
        <Cy>240.5</Cy>
        <!-- image_width / (2*tan(hfov_radian /2)) -->
        <!-- 320 for wide and 772.55 for narrow stereo camera -->
        <focalLength>320</focalLength>
        <distortionK1>0.0</distortionK1>
        <distortionK2>0.0</distortionK2>
        <distortionK3>0.0</distortionK3>
        <distortionT1>0.0</distortionT1>
        <distortionT2>0.0</distortionT2>
      </plugin>
    </sensor>
    <turnGravityOff>true</turnGravityOff>
    <material>PR2/Blue</material>
  </gazebo>
</robot>
